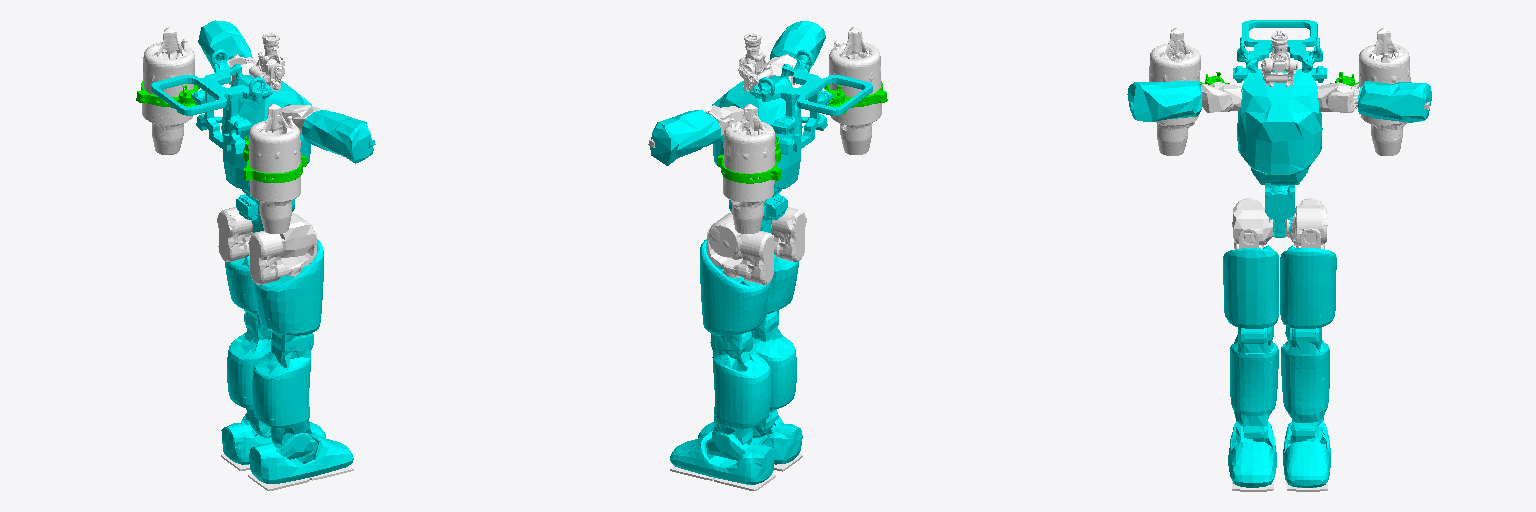
--- Render facts (derived) ---
Views: 3 orthographic renders of the robot side by side, from view 1: azimuth 30°, elevation 25°; view 2: azimuth 150°, elevation 25°; view 3: azimuth 270°, elevation 25°.
Robot: iCub — 64 links, 63 joints (26 revolute, 37 fixed); root link root_link; default pose: joints at zero except 2 at the middle of their limits (l_shoulder_roll = 1.53, r_shoulder_roll = 1.53).
Visible links, largest first — view 1: r_lower_leg, chest_r_jet_turbine, chest_jetpack, r_hip_3, chest_l_jet_turbine, r_ankle_2, l_lower_leg, r_upper_arm, chest, r_hip_2, l_hip_2, l_upper_arm (+8 smaller); view 2: l_lower_leg, chest_l_jet_turbine, chest_jetpack, l_hip_3, chest_r_jet_turbine, l_ankle_2, r_lower_leg, l_upper_arm, chest, l_hip_2, r_hip_2, r_upper_arm (+7 smaller); view 3: chest, r_lower_leg, l_lower_leg, l_hip_3, r_hip_3, chest_l_jet_turbine, chest_r_jet_turbine, chest_jetpack, r_upper_arm, l_upper_arm, l_ankle_2, r_ankle_2 (+7 smaller).
Boxes of the visible links, box(x1,y1,x2,y2) form: r_lower_leg: box(252, 331, 311, 445); chest_r_jet_turbine: box(248, 104, 300, 233); chest_jetpack: box(151, 49, 272, 154); r_hip_3: box(254, 239, 323, 335); chest_l_jet_turbine: box(142, 27, 194, 154); r_ankle_2: box(249, 431, 353, 483); l_lower_leg: box(227, 311, 270, 437); r_upper_arm: box(302, 110, 373, 163); chest: box(221, 75, 311, 188); r_hip_2: box(248, 224, 316, 284); l_hip_2: box(217, 207, 251, 261); l_upper_arm: box(198, 20, 252, 68); l_lower_leg: box(712, 331, 771, 444); chest_l_jet_turbine: box(723, 104, 775, 233); chest_jetpack: box(750, 49, 872, 154); l_hip_3: box(700, 239, 770, 335); chest_r_jet_turbine: box(829, 27, 881, 154); l_ankle_2: box(670, 431, 774, 484); r_lower_leg: box(752, 311, 796, 437); l_upper_arm: box(650, 110, 720, 165); chest: box(712, 75, 802, 188); l_hip_2: box(707, 224, 775, 284); r_hip_2: box(772, 207, 806, 262); r_upper_arm: box(770, 21, 825, 68); chest: box(1237, 69, 1322, 174); r_lower_leg: box(1230, 327, 1278, 443); l_lower_leg: box(1281, 327, 1329, 443); l_hip_3: box(1280, 245, 1336, 328); r_hip_3: box(1223, 245, 1278, 328); chest_l_jet_turbine: box(1359, 28, 1410, 155); chest_r_jet_turbine: box(1149, 28, 1200, 155); chest_jetpack: box(1233, 20, 1326, 82); r_upper_arm: box(1127, 81, 1201, 121); l_upper_arm: box(1358, 81, 1431, 122); l_ankle_2: box(1283, 422, 1330, 487); r_ankle_2: box(1228, 422, 1276, 487).
Bounding box of the posed robot: 0.4587 × 0.727 × 1.13 m (x, y, z).
Meshes: 44 distinct files referenced, 41 mesh visuals loaded (41 ASCII STL); not drawn: 3 (reference not matched to a file when rendering), 3 (reference in a form the renderer does not follow; not among the files counted above).

robot.urdf — iCub:
<robot name="iCub">
  <link name="root_link">
    <inertial>
      <origin xyz="0.0035506 -0.00014959200000000001 0.024519000000000013" rpy="0 0 -1.5707963267948966"/>
      <mass value="2.5751"/>
      <inertia ixx="0.004051489764137304" ixy="-2.0525354991945143e-06" ixz="-1.200186769383287e-05" iyy="0.004466379288694287" iyz="0.00011702292411912923" izz="0.002537512875376926"/>
    </inertial>
    <visual>
      <origin xyz="0 0 0.313858" rpy="0 0 -1.5707963267948966"/>
      <geometry>
        <mesh filename="package://iRonCub-Mk3/iRonCub/meshes/stl/sim_icub3_root_link_prt.stl" scale="0.001 0.001 0.001"/>
      </geometry>
      <material name="green">
        <color rgba="0 1 1 1"/>
      </material>
    </visual>
    <collision>
      <origin xyz="0 0 0.313858" rpy="0 0 -1.5707963267948966"/>
      <geometry>
        <mesh filename="package://iRonCub-Mk3/iRonCub/meshes/stl/sim_icub3_root_link_prt.stl" scale="0.001 0.001 0.001"/>
      </geometry>
    </collision>
  </link>
  <link name="l_hip_1">
    <inertial>
      <origin xyz="-0.004074100000000001 0.028123299999999997 -0.0007250000000000312" rpy="0 0 -1.5707963267948966"/>
      <mass value="2.1611"/>
      <inertia ixx="0.002595352643142238" ixy="-6.263538591577025e-05" ixz="2.7731363927618977e-06" iyy="0.0021193350821535318" iyz="-1.2725390435109447e-05" izz="0.0023619854835245473"/>
    </inertial>
    <visual>
      <origin xyz="-0.021600000000000064 -0.04044999999999981 0.31385800000000025" rpy="0 0 -1.5707963267948966"/>
      <geometry>
        <mesh filename="package://iRonCub-Mk3/iRonCub/meshes/stl/sim_icub3_l_hip_1_prt.stl" scale="0.001 0.001 0.001"/>
      </geometry>
      <material name="black">
        <color rgba="1 1 1 1"/>
      </material>
    </visual>
    <collision>
      <origin xyz="-0.021600000000000064 -0.04044999999999981 0.31385800000000025" rpy="0 0 -1.5707963267948966"/>
      <geometry>
        <mesh filename="package://iRonCub-Mk3/iRonCub/meshes/stl/sim_icub3_l_hip_1_prt.stl" scale="0.001 0.001 0.001"/>
      </geometry>
    </collision>
  </link>
  <joint name="l_hip_pitch" type="revolute">
    <origin xyz="0.0216 0.04045000000000001 0" rpy="0 0 0"/>
    <axis xyz="0.0 -1.0 0.0"/>
    <parent link="root_link"/>
    <child link="l_hip_1"/>
    <limit effort="50000" lower="-0.7853981633974483" upper="2.007128639793479" velocity="120.0"/>
    <dynamics damping="2.0" friction="0.0"/>
  </joint>
  <link name="l_hip_2">
    <inertial>
      <origin xyz="-0.003963800000000003 5.489999999999662e-05 -0.037538000000000016" rpy="0 0 -1.5707963267948966"/>
      <mass value="1.7731"/>
      <inertia ixx="0.005228411714595798" ixy="-4.083551966339624e-06" ixz="3.1651054869901453e-06" iyy="0.0029657585348029296" iyz="0.0009461829267401466" izz="0.0032766682222500967"/>
    </inertial>
    <visual>
      <origin xyz="0.025649999999999822 -0.07354999999999978 0.3228580000000002" rpy="0 0 -1.5707963267948966"/>
      <geometry>
        <mesh filename="package://iRonCub-Mk3/iRonCub/meshes/stl/sim_icub3_l_hip_2_prt.stl" scale="0.001 0.001 0.001"/>
      </geometry>
      <material name="red">
        <color rgba="1 1 1 1"/>
      </material>
    </visual>
    <collision>
      <origin xyz="0.025649999999999822 -0.07354999999999978 0.3228580000000002" rpy="0 0 -1.5707963267948966"/>
      <geometry>
        <mesh filename="package://iRonCub-Mk3/iRonCub/meshes/stl/sim_icub3_l_hip_2_prt.stl" scale="0.001 0.001 0.001"/>
      </geometry>
    </collision>
  </link>
  <joint name="l_hip_roll" type="revolute">
    <origin xyz="-0.04725 0.0331 -0.009000000000000008" rpy="0 0 0"/>
    <axis xyz="1.0 0.0 0.0"/>
    <parent link="l_hip_1"/>
    <child link="l_hip_2"/>
    <limit effort="50000" lower="-0.17453292519943295" upper="1.9547687622336491" velocity="120.0"/>
    <dynamics damping="2.0" friction="0.0"/>
  </joint>
  <link name="l_hip_3">
    <inertial>
      <origin xyz="0.0024416999999999998 -0.012306900000000003 -0.03819900000000004" rpy="0 0 -1.5707963267948966"/>
      <mass value="2.43975"/>
      <inertia ixx="0.0044412883972056874" ixy="3.3190647191151945e-06" ixz="-0.0001500433647365573" iyy="0.004161531735667295" iyz="1.0495343014441162e-05" izz="0.004168493190874654"/>
    </inertial>
    <visual>
      <origin xyz="-0.011050000000000178 -0.07354999999999977 0.41255800000000004" rpy="0 0 -1.5707963267948966"/>
      <geometry>
        <mesh filename="package://iRonCub-Mk3/iRonCub/meshes/stl/sim_icub3_l_hip_3_prt.stl" scale="0.001 0.001 0.001"/>
      </geometry>
      <material name="blue">
        <color rgba="0 1 1 1"/>
      </material>
    </visual>
    <collision>
      <origin xyz="-0.011050000000000178 -0.07354999999999977 0.41255800000000004" rpy="0 0 -1.5707963267948966"/>
      <geometry>
        <mesh filename="package://iRonCub-Mk3/iRonCub/meshes/stl/sim_icub3_l_hip_3_prt.stl" scale="0.001 0.001 0.001"/>
      </geometry>
    </collision>
  </link>
  <joint name="l_leg_ft_sensor" type="fixed">
    <origin xyz="0.036699999999999997 0 -0.08969999999999995" rpy="0 0 0"/>
    <parent link="l_hip_2"/>
    <child link="l_hip_3"/>
    <dynamics damping="0.1"/>
  </joint>
  <link name="l_upper_leg">
    <inertial>
      <origin xyz="0.005238099999999999 0.001499300000000009 -0.0518519999999999" rpy="0 0 -1.5707963267948966"/>
      <mass value="0.90926"/>
      <inertia ixx="0.0018580448030305287" ixy="2.4769869343548534e-05" ixz="-9.921040799831542e-05" iyy="0.0023253336863419895" iyz="0.00021961146368491691" izz="0.0010116953240355718"/>
    </inertial>
    <visual>
      <origin xyz="-0.011050000000000167 -0.05854999999999983 0.48345800000000017" rpy="0 0 -1.5707963267948966"/>
      <geometry>
        <mesh filename="package://iRonCub-Mk3/iRonCub/meshes/stl/sim_icub3_l_upper_leg_prt.stl" scale="0.001 0.001 0.001"/>
      </geometry>
      <material name="yellow">
        <color rgba="0 1 1 1"/>
      </material>
    </visual>
    <collision>
      <origin xyz="-0.011050000000000167 -0.05854999999999983 0.48345800000000017" rpy="0 0 -1.5707963267948966"/>
      <geometry>
        <mesh filename="package://iRonCub-Mk3/iRonCub/meshes/stl/sim_icub3_l_upper_leg_prt.stl" scale="0.001 0.001 0.001"/>
      </geometry>
    </collision>
  </link>
  <joint name="l_hip_yaw" type="revolute">
    <origin xyz="0 -0.015000000000000006 -0.07090000000000007" rpy="0 0 0"/>
    <axis xyz="0.0 0.0 1.0"/>
    <parent link="l_hip_3"/>
    <child link="l_upper_leg"/>
    <limit effort="50000" lower="-1.3962634015954636" upper="1.3962634015954636" velocity="120.0"/>
    <dynamics damping="2.0" friction="0.0"/>
  </joint>
  <link name="l_lower_leg">
    <inertial>
      <origin xyz="-0.0132211 -0.022063200000000005 -0.12639599999999995" rpy="0 0 -1.5707963267948966"/>
      <mass value="5.3241"/>
      <inertia ixx="0.05824701558729114" ixy="0.00010624602688798144" ixz="0.00032177799357201414" iyy="0.055706072617469723" iyz="-0.00018962183345080946" izz="0.006070627555679843"/>
    </inertial>
    <visual>
      <origin xyz="-0.026050000000000243 -0.08344999999999969 0.5896580000000001" rpy="0 0 -1.5707963267948966"/>
      <geometry>
        <mesh filename="package://iRonCub-Mk3/iRonCub/meshes/stl/sim_icub3_l_lower_leg_prt.stl" scale="0.001 0.001 0.001"/>
      </geometry>
      <material name="pink">
        <color rgba="0 1 1 1"/>
      </material>
    </visual>
    <collision>
      <origin xyz="-0.026050000000000243 -0.08344999999999969 0.5896580000000001" rpy="0 0 -1.5707963267948966"/>
      <geometry>
        <mesh filename="package://iRonCub-Mk3/iRonCub/meshes/stl/sim_icub3_l_lower_leg_prt.stl" scale="0.001 0.001 0.001"/>
      </geometry>
    </collision>
  </link>
  <joint name="l_knee" type="revolute">
    <origin xyz="0.015 0.024900000000000012 -0.10619999999999996" rpy="0 0 0"/>
    <axis xyz="0.0 -1.0 0.0"/>
    <parent link="l_upper_leg"/>
    <child link="l_lower_leg"/>
    <limit effort="50000" lower="-1.2217304763960306" upper="0.08726646259971647" velocity="120.0"/>
    <dynamics damping="2.0" friction="0.0"/>
  </joint>
  <link name="l_ankle_1">
    <inertial>
      <origin xyz="-0.0056708999999999996 -0.0004776000000000086 -0.015197000000000016" rpy="0 0 -1.5707963267948966"/>
      <mass value="0.36569"/>
      <inertia ixx="0.0006919069701304677" ixy="3.642221266176245e-05" ixz="6.0306968718434186e-05" iyy="0.00029801214087017225" iyz="-2.6804257582408287e-05" izz="0.0005496547611177806"/>
    </inertial>
    <visual>
      <origin xyz="-0.026050000000000052 -0.08295000000000005 0.8456470000000003" rpy="0 0 -1.5707963267948966"/>
      <geometry>
        <mesh filename="package://iRonCub-Mk3/iRonCub/meshes/stl/sim_icub3_l_ankle_1_prt.stl" scale="0.001 0.001 0.001"/>
      </geometry>
      <material name="cyan">
        <color rgba="0 1 1 1"/>
      </material>
    </visual>
    <collision>
      <origin xyz="-0.026050000000000052 -0.08295000000000005 0.8456470000000003" rpy="0 0 -1.5707963267948966"/>
      <geometry>
        <mesh filename="package://iRonCub-Mk3/iRonCub/meshes/stl/sim_icub3_l_ankle_1_prt.stl" scale="0.001 0.001 0.001"/>
      </geometry>
    </collision>
  </link>
  <joint name="l_ankle_pitch" type="revolute">
    <origin xyz="0 -0.0005000000000000004 -0.255989" rpy="0 0 0"/>
    <axis xyz="0.0 1.0 0.0"/>
    <parent link="l_lower_leg"/>
    <child link="l_ankle_1"/>
    <limit effort="50000" lower="-0.7853981633974483" upper="0.7853981633974483" velocity="120.0"/>
    <dynamics damping="2.0" friction="0.0"/>
  </joint>
  <link name="l_ankle_2">
    <inertial>
      <origin xyz="0.0417048 -5.500000000001337e-05 -0.02565099999999998" rpy="0 0 -1.5707963267948966"/>
      <mass value="1.53465"/>
      <inertia ixx="0.008276628548706496" ixy="5.786254688421673e-06" ixz="-4.092109028187411e-06" iyy="0.0017004608262408357" iyz="0.0012330199976826493" izz="0.008063087568467178"/>
    </inertial>
    <visual>
      <origin xyz="0.026699999999999342 -0.0647500000000001 0.8806470000000008" rpy="0 0 -1.5707963267948966"/>
      <geometry>
        <mesh filename="package://iRonCub-Mk3/iRonCub/meshes/stl/sim_icub3_l_ankle_2_prt.stl" scale="0.001 0.001 0.001"/>
      </geometry>
      <material name="green">
        <color rgba="0 1 1 1"/>
      </material>
    </visual>
    <collision>
      <origin xyz="0.026699999999999342 -0.0647500000000001 0.8806470000000008" rpy="0 0 -1.5707963267948966"/>
      <geometry>
        <mesh filename="package://iRonCub-Mk3/iRonCub/meshes/stl/sim_icub3_l_ankle_2_prt.stl" scale="0.001 0.001 0.001"/>
      </geometry>
    </collision>
  </link>
  <joint name="l_ankle_roll" type="revolute">
    <origin xyz="-0.052750000000000005 -0.018200000000000008 -0.03500000000000003" rpy="0 0 0"/>
    <axis xyz="1.0 0.0 0.0"/>
    <parent link="l_ankle_1"/>
    <child link="l_ankle_2"/>
    <limit effort="50000" lower="-0.4363323129985824" upper="0.4363323129985824" velocity="120.0"/>
    <dynamics damping="2.0" friction="0.0"/>
  </joint>
  <link name="l_foot_rear">
    <inertial>
      <origin xyz="0.0005056000000000001 3.350000000000575e-05 0.003658999999999968" rpy="0 0 -1.5707963267948966"/>
      <mass value="0.17851"/>
      <inertia ixx="0.00028386984946481193" ixy="-3.8140209422126887e-07" ixz="3.3779281136245455e-06" iyy="0.00022675202580603227" iyz="8.141588837428499e-06" izz="0.00036516477016163983"/>
    </inertial>
    <visual>
      <origin xyz="0.010699999999999342 -0.06475000000000009 0.9464470000000004" rpy="0 0 -1.5707963267948966"/>
      <geometry>
        <mesh filename="package://iRonCub-Mk3/iRonCub/meshes/stl/sim_icub3_l_foot_rear_prt.stl" scale="0.001 0.001 0.001"/>
      </geometry>
      <material name="l_foot_rear_color">
        <color rgba="1.0 1.0 1.0 1.0"/>
      </material>
    </visual>
    <collision>
      <origin xyz="0.010699999999999342 -0.06475000000000009 0.9464470000000004" rpy="0 0 -1.5707963267948966"/>
      <geometry>
        <mesh filename="package://iRonCub-Mk3/iRonCub/meshes/stl/sim_icub3_l_foot_rear_prt.stl" scale="0.001 0.001 0.001"/>
      </geometry>
    </collision>
  </link>
  <joint name="l_foot_rear_ft_sensor" type="fixed">
    <origin xyz="0.016 0 -0.06579999999999997" rpy="0 0 0"/>
    <parent link="l_ankle_2"/>
    <child link="l_foot_rear"/>
    <dynamics damping="0.1"/>
  </joint>
  <link name="l_sole"/>
  <joint name="l_sole_fixed_joint" type="fixed">
    <origin xyz="0.05963 0 0" rpy="0 0 0"/>
    <parent link="l_foot_rear"/>
    <child link="l_sole"/>
    <dynamics damping="0.1"/>
  </joint>
  <link name="l_sole_3"/>
  <joint name="l_sole_3_fixed_joint" type="fixed">
    <origin xyz="-0.035 -0.02475 0" rpy="0 0 0"/>
    <parent link="l_foot_rear"/>
    <child link="l_sole_3"/>
    <dynamics damping="0.1"/>
  </joint>
  <link name="l_sole_4"/>
  <joint name="l_sole_4_fixed_joint" type="fixed">
    <origin xyz="-0.035 0.03025 0" rpy="0 0 0"/>
    <parent link="l_foot_rear"/>
    <child link="l_sole_4"/>
    <dynamics damping="0.1"/>
  </joint>
  <link name="l_foot_front">
    <inertial>
      <origin xyz="7.700000000000762e-05 -3.990000000000937e-05 0.004256999999999955" rpy="0 0 -1.5707963267948966"/>
      <mass value="0.17896"/>
      <inertia ixx="0.00032486721722121964" ixy="3.5467003209527003e-07" ixz="2.7144049104682455e-07" iyy="0.00025600096782908466" iyz="3.4960507170104935e-05" izz="0.00037767895393194076"/>
    </inertial>
    <visual>
      <origin xyz="-0.10855000000000063 -0.06475000000000009 0.9464470000000004" rpy="0 0 -1.5707963267948966"/>
      <geometry>
        <mesh filename="package://iRonCub-Mk3/iRonCub/meshes/stl/sim_icub3_l_foot_front_prt.stl" scale="0.001 0.001 0.001"/>
      </geometry>
      <material name="l_foot_front_color">
        <color rgba="1.0 1.0 1.0 1.0"/>
      </material>
    </visual>
    <collision>
      <origin xyz="-0.10855000000000063 -0.06475000000000009 0.9464470000000004" rpy="0 0 -1.5707963267948966"/>
      <geometry>
        <mesh filename="package://iRonCub-Mk3/iRonCub/meshes/stl/sim_icub3_l_foot_front_prt.stl" scale="0.001 0.001 0.001"/>
      </geometry>
    </collision>
  </link>
  <joint name="l_foot_front_ft_sensor" type="fixed">
    <origin xyz="0.13524999999999998 0 -0.06579999999999997" rpy="0 0 0"/>
    <parent link="l_ankle_2"/>
    <child link="l_foot_front"/>
    <dynamics damping="0.1"/>
  </joint>
  <link name="l_sole_1"/>
  <joint name="l_sole_1_fixed_joint" type="fixed">
    <origin xyz="0.02500000000000001 0.025249999999999995 0" rpy="0 0 0"/>
    <parent link="l_foot_front"/>
    <child link="l_sole_1"/>
    <dynamics damping="0.1"/>
  </joint>
  <link name="l_sole_2"/>
  <joint name="l_sole_2_fixed_joint" type="fixed">
    <origin xyz="0.02500000000000001 -0.02475 0" rpy="0 0 0"/>
    <parent link="l_foot_front"/>
    <child link="l_sole_2"/>
    <dynamics damping="0.1"/>
  </joint>
  <link name="r_hip_1">
    <inertial>
      <origin xyz="-0.004106499999999999 -0.02810980000000001 -0.0008360000000000034" rpy="0 0 -1.5707963267948966"/>
      <mass value="2.1623"/>
      <inertia ixx="0.002675989970439473" ixy="6.426984653122192e-05" ixz="-6.447456052305588e-06" iyy="0.0021990073364667796" iyz="-1.5695577440979572e-05" izz="0.002366627191660443"/>
    </inertial>
    <visual>
      <origin xyz="-0.0216 0.04054999999999986 0.313858" rpy="0 0 -1.5707963267948966"/>
      <geometry>
        <mesh filename="package://iRonCub-Mk3/iRonCub/meshes/stl/sim_icub3_r_hip_1_prt.stl" scale="0.001 0.001 0.001"/>
      </geometry>
      <material name="white">
        <color rgba="1 1 1 1"/>
      </material>
    </visual>
    <collision>
      <origin xyz="-0.0216 0.04054999999999986 0.313858" rpy="0 0 -1.5707963267948966"/>
      <geometry>
        <mesh filename="package://iRonCub-Mk3/iRonCub/meshes/stl/sim_icub3_r_hip_1_prt.stl" scale="0.001 0.001 0.001"/>
      </geometry>
    </collision>
  </link>
  <joint name="r_hip_pitch" type="revolute">
    <origin xyz="0.0216 -0.040549999999999996 0" rpy="0 0 0"/>
    <axis xyz="0.0 -1.0 0.0"/>
    <parent link="root_link"/>
    <child link="r_hip_1"/>
    <limit effort="50000" lower="-0.7853981633974483" upper="2.007128639793479" velocity="120.0"/>
    <dynamics damping="2.0" friction="0.0"/>
  </joint>
  <link name="r_hip_2">
    <inertial>
      <origin xyz="-0.003963499999999998 -7.010000000000349e-05 -0.03753499999999993" rpy="0 0 -1.5707963267948966"/>
      <mass value="1.7731"/>
      <inertia ixx="0.005229204654206729" ixy="4.628243459077994e-06" ixz="-3.2636330686460046e-06" iyy="0.0029659325947175245" iyz="0.0009467254134739666" izz="0.00327641680237346"/>
    </inertial>
    <visual>
      <origin xyz="0.025699999999999973 0.07364999999999984 0.3228580000000001" rpy="0 0 -1.5707963267948966"/>
      <geometry>
        <mesh filename="package://iRonCub-Mk3/iRonCub/meshes/stl/sim_icub3_r_hip_2_prt.stl" scale="0.001 0.001 0.001"/>
      </geometry>
      <material name="dblue">
        <color rgba="1 1 1 1"/>
      </material>
    </visual>
    <collision>
      <origin xyz="0.025699999999999973 0.07364999999999984 0.3228580000000001" rpy="0 0 -1.5707963267948966"/>
      <geometry>
        <mesh filename="package://iRonCub-Mk3/iRonCub/meshes/stl/sim_icub3_r_hip_2_prt.stl" scale="0.001 0.001 0.001"/>
      </geometry>
    </collision>
  </link>
  <joint name="r_hip_roll" type="revolute">
    <origin xyz="-0.0473 -0.03310000000000001 -0.009000000000000008" rpy="0 0 0"/>
    <axis xyz="-1.0 0.0 0.0"/>
    <parent link="r_hip_1"/>
    <child link="r_hip_2"/>
    <limit effort="50000" lower="-0.17453292519943295" upper="1.9547687622336491" velocity="120.0"/>
    <dynamics damping="2.0" friction="0.0"/>
  </joint>
  <link name="r_hip_3">
    <inertial>
      <origin xyz="0.0024329000000000017 0.01233370000000001 -0.038242000000000054" rpy="0 0 -1.5707963267948966"/>
      <mass value="2.43975"/>
      <inertia ixx="0.004485784047483899" ixy="-2.3350782161357655e-06" ixz="0.0001440226606671166" iyy="0.00420681558758196" iyz="1.1762844743205253e-05" izz="0.0041711798557694454"/>
    </inertial>
    <visual>
      <origin xyz="-0.011000000000000029 0.07364999999999984 0.41255800000000004" rpy="0 0 -1.5707963267948966"/>
      <geometry>
        <mesh filename="package://iRonCub-Mk3/iRonCub/meshes/stl/sim_icub3_r_hip_3_prt.stl" scale="0.001 0.001 0.001"/>
      </geometry>
      <material name="dgreen">
        <color rgba="0 1 1 1"/>
      </material>
    </visual>
    <collision>
      <origin xyz="-0.011000000000000029 0.07364999999999984 0.41255800000000004" rpy="0 0 -1.5707963267948966"/>
      <geometry>
        <mesh filename="package://iRonCub-Mk3/iRonCub/meshes/stl/sim_icub3_r_hip_3_prt.stl" scale="0.001 0.001 0.001"/>
      </geometry>
    </collision>
  </link>
  <joint name="r_leg_ft_sensor" type="fixed">
    <origin xyz="0.036699999999999997 0 -0.08969999999999995" rpy="0 0 0"/>
    <parent link="r_hip_2"/>
    <child link="r_hip_3"/>
    <dynamics damping="0.1"/>
  </joint>
  <link name="r_upper_leg">
    <inertial>
      <origin xyz="0.005240300000000003 -0.0014998000000000025 -0.05185799999999996" rpy="0 0 -1.5707963267948966"/>
      <mass value="0.90926"/>
      <inertia ixx="0.0018609457769770859" ixy="-2.472258346821965e-05" ixz="9.915722347596187e-05" iyy="0.0023282830098543227" iyz="0.00022002726995059012" izz="0.001011608294817175"/>
    </inertial>
    <visual>
      <origin xyz="-0.011000000000000012 0.05864999999999984 0.48345800000000005" rpy="0 0 -1.5707963267948966"/>
      <geometry>
        <mesh filename="package://iRonCub-Mk3/iRonCub/meshes/stl/sim_icub3_r_upper_leg_prt.stl" scale="0.001 0.001 0.001"/>
      </geometry>
      <material name="gray">
        <color rgba="0 1 1 1"/>
      </material>
    </visual>
    <collision>
      <origin xyz="-0.011000000000000012 0.05864999999999984 0.48345800000000005" rpy="0 0 -1.5707963267948966"/>
      <geometry>
        <mesh filename="package://iRonCub-Mk3/iRonCub/meshes/stl/sim_icub3_r_upper_leg_prt.stl" scale="0.001 0.001 0.001"/>
      </geometry>
    </collision>
  </link>
  <joint name="r_hip_yaw" type="revolute">
    <origin xyz="0 0.015000000000000006 -0.07090000000000007" rpy="0 0 0"/>
    <axis xyz="0.0 0.0 -1.0"/>
    <parent link="r_hip_3"/>
    <child link="r_upper_leg"/>
    <limit effort="50000" lower="-1.3962634015954636" upper="1.3962634015954636" velocity="120.0"/>
    <dynamics damping="2.0" friction="0.0"/>
  </joint>
  <link name="r_lower_leg">
    <inertial>
      <origin xyz="-0.013102400000000002 0.021986699999999998 -0.127262" rpy="0 0 -1.5707963267948966"/>
      <mass value="5.3241"/>
      <inertia ixx="0.058569724854460666" ixy="-0.00011067195586576853" ixz="-0.0002647293063069585" iyy="0.05601996956627755" iyz="-0.00013332765738821662" izz="0.006068235025831327"/>
    </inertial>
    <visual>
      <origin xyz="-0.026000000000000037 0.0835499999999998 0.589658" rpy="0 0 -1.5707963267948966"/>
      <geometry>
        <mesh filename="package://iRonCub-Mk3/iRonCub/meshes/stl/sim_icub3_r_lower_leg_prt.stl" scale="0.001 0.001 0.001"/>
      </geometry>
      <material name="green">
        <color rgba="0 1 1 1"/>
      </material>
    </visual>
    <collision>
      <origin xyz="-0.026000000000000037 0.0835499999999998 0.589658" rpy="0 0 -1.5707963267948966"/>
      <geometry>
        <mesh filename="package://iRonCub-Mk3/iRonCub/meshes/stl/sim_icub3_r_lower_leg_prt.stl" scale="0.001 0.001 0.001"/>
      </geometry>
    </collision>
  </link>
  <joint name="r_knee" type="revolute">
    <origin xyz="0.015000000000000003 -0.0249 -0.10619999999999996" rpy="0 0 0"/>
    <axis xyz="0.0 -1.0 0.0"/>
    <parent link="r_upper_leg"/>
    <child link="r_lower_leg"/>
    <limit effort="50000" lower="-1.2217304763960306" upper="0.08726646259971647" velocity="120.0"/>
    <dynamics damping="2.0" friction="0.0"/>
  </joint>
  <link name="r_ankle_1">
    <inertial>
      <origin xyz="-0.005665800000000002 0.0004764000000000018 -0.015185999999999922" rpy="0 0 -1.5707963267948966"/>
      <mass value="0.36569"/>
      <inertia ixx="0.0007008795637504032" ixy="-3.63258049040399e-05" ixz="-6.07134864852001e-05" iyy="0.00030702728154466944" iyz="-2.6127082529919777e-05" izz="0.0005495280869326084"/>
    </inertial>
    <visual>
      <origin xyz="-0.026000000000000245 0.08304999999999924 0.8456470000000003" rpy="0 0 -1.5707963267948966"/>
      <geometry>
        <mesh filename="package://iRonCub-Mk3/iRonCub/meshes/stl/sim_icub3_r_ankle_1_prt.stl" scale="0.001 0.001 0.001"/>
      </geometry>
      <material name="black">
        <color rgba="0 1 1 1"/>
      </material>
    </visual>
    <collision>
      <origin xyz="-0.026000000000000245 0.08304999999999924 0.8456470000000003" rpy="0 0 -1.5707963267948966"/>
      <geometry>
        <mesh filename="package://iRonCub-Mk3/iRonCub/meshes/stl/sim_icub3_r_ankle_1_prt.stl" scale="0.001 0.001 0.001"/>
      </geometry>
    </collision>
  </link>
  <joint name="r_ankle_pitch" type="revolute">
    <origin xyz="0 0.0005000000000000004 -0.255989" rpy="0 0 0"/>
    <axis xyz="0.0 1.0 0.0"/>
    <parent link="r_lower_leg"/>
    <child link="r_ankle_1"/>
    <limit effort="50000" lower="-0.7853981633974483" upper="0.7853981633974483" velocity="120.0"/>
    <dynamics damping="2.0" friction="0.0"/>
  </joint>
  <link name="r_ankle_2">
    <inertial>
      <origin xyz="0.0417371 5.619999999997849e-05 -0.025592999999999977" rpy="0 0 -1.5707963267948966"/>
      <mass value="1.53465"/>
      <inertia ixx="0.008359137510182012" ixy="-6.658498141958317e-06" ixz="1.6236202151564518e-06" iyy="0.001778865481574069" iyz="0.001241649614839054" izz="0.008067236320993203"/>
    </inertial>
    <visual>
      <origin xyz="0.026749999999999875 0.0648499999999391 0.8806470000000108" rpy="0 0 -1.5707963267948966"/>
      <geometry>
        <mesh filename="package://iRonCub-Mk3/iRonCub/meshes/stl/sim_icub3_r_ankle_2_prt.stl" scale="0.001 0.001 0.001"/>
      </geometry>
      <material name="red">
        <color rgba="0 1 1 1"/>
      </material>
    </visual>
    <collision>
      <origin xyz="0.026749999999999875 0.0648499999999391 0.8806470000000108" rpy="0 0 -1.5707963267948966"/>
      <geometry>
        <mesh filename="package://iRonCub-Mk3/iRonCub/meshes/stl/sim_icub3_r_ankle_2_prt.stl" scale="0.001 0.001 0.001"/>
      </geometry>
    </collision>
  </link>
  <joint name="r_ankle_roll" type="revolute">
    <origin xyz="-0.052750000000000005 0.018200000000000008 -0.03500000000000003" rpy="0 0 0"/>
    <axis xyz="-1.0 0.0 0.0"/>
    <parent link="r_ankle_1"/>
    <child link="r_ankle_2"/>
    <limit effort="50000" lower="-0.4363323129985824" upper="0.4363323129985824" velocity="120.0"/>
    <dynamics damping="2.0" friction="0.0"/>
  </joint>
  <link name="r_foot_front">
    <inertial>
      <origin xyz="-0.0004180000000000017 0.0004849999999999993 0.005581000000000058" rpy="0 0 -1.5707963267948966"/>
      <mass value="0.17964"/>
      <inertia ixx="0.0004475629748133475" ixy="-1.1622018441861841e-05" ixz="2.9686391650024495e-05" iyy="0.0003761336092973683" iyz="7.056362242091155e-05" izz="0.00040019707061844293"/>
    </inertial>
    <visual>
      <origin xyz="-0.10850000000000012 0.0648499999999391 0.9464470000000105" rpy="0 0 -1.5707963267948966"/>
      <geometry>
        <mesh filename="package://iRonCub-Mk3/iRonCub/meshes/stl/sim_icub3_r_foot_front_prt.stl" scale="0.001 0.001 0.001"/>
      </geometry>
      <material name="r_foot_front_color">
        <color rgba="1.0 1.0 1.0 1.0"/>
      </material>
    </visual>
    <collision>
      <origin xyz="-0.10850000000000012 0.0648499999999391 0.9464470000000105" rpy="0 0 -1.5707963267948966"/>
      <geometry>
        <mesh filename="package://iRonCub-Mk3/iRonCub/meshes/stl/sim_icub3_r_foot_front_prt.stl" scale="0.001 0.001 0.001"/>
      </geometry>
    </collision>
  </link>
  <joint name="r_foot_front_ft_sensor" type="fixed">
    <origin xyz="0.13525 0 -0.06579999999999997" rpy="0 0 0"/>
    <parent link="r_ankle_2"/>
    <child link="r_foot_front"/>
    <dynamics damping="0.1"/>
  </joint>
  <link name="r_sole_1"/>
  <joint name="r_sole_1_fixed_joint" type="fixed">
    <origin xyz="0.02500000000000001 -0.025150000000000006 0" rpy="0 0 0"/>
    <parent link="r_foot_front"/>
    <child link="r_sole_1"/>
    <dynamics damping="0.1"/>
  </joint>
  <link name="r_sole_2"/>
  <joint name="r_sole_2_fixed_joint" type="fixed">
    <origin xyz="0.02500000000000001 0.02484999999999999 0" rpy="0 0 0"/>
    <parent link="r_foot_front"/>
    <child link="r_sole_2"/>
    <dynamics damping="0.1"/>
  </joint>
  <link name="r_foot_rear">
    <inertial>
      <origin xyz="0.0006180999999999999 7.079999999998199e-05 0.003514000000000017" rpy="0 0 -1.5707963267948966"/>
      <mass value="0.17874"/>
      <inertia ixx="0.00023837060598027492" ixy="1.5972601165325875e-07" ixz="2.851962872955676e-06" iyy="0.00018229756818021977" iyz="-1.2898142814635283e-06" izz="0.0003645245458529223"/>
    </inertial>
    <visual>
      <origin xyz="0.010749999999999876 0.0648499999999391 0.9464470000000105" rpy="0 0 -1.5707963267948966"/>
      <geometry>
        <mesh filename="package://iRonCub-Mk3/iRonCub/meshes/stl/sim_icub3_r_foot_rear_prt.stl" scale="0.001 0.001 0.001"/>
      </geometry>
      <material name="r_foot_rear_color">
        <color rgba="1.0 1.0 1.0 1.0"/>
      </material>
    </visual>
    <collision>
      <origin xyz="0.010749999999999876 0.0648499999999391 0.9464470000000105" rpy="0 0 -1.5707963267948966"/>
      <geometry>
        <mesh filename="package://iRonCub-Mk3/iRonCub/meshes/stl/sim_icub3_r_foot_rear_prt.stl" scale="0.001 0.001 0.001"/>
      </geometry>
    </collision>
  </link>
  <joint name="r_foot_rear_ft_sensor" type="fixed">
    <origin xyz="0.016 0 -0.06579999999999997" rpy="0 0 0"/>
    <parent link="r_ankle_2"/>
    <child link="r_foot_rear"/>
    <dynamics damping="0.1"/>
  </joint>
  <link name="r_sole"/>
  <joint name="r_sole_fixed_joint" type="fixed">
    <origin xyz="0.05963000000000001 0 0" rpy="0 0 0"/>
    <parent link="r_foot_rear"/>
    <child link="r_sole"/>
    <dynamics damping="0.1"/>
  </joint>
  <link name="r_sole_4"/>
  <joint name="r_sole_4_fixed_joint" type="fixed">
    <origin xyz="-0.034999999999999996 -0.03015000000000001 0" rpy="0 0 0"/>
    <parent link="r_foot_rear"/>
    <child link="r_sole_4"/>
    <dynamics damping="0.1"/>
  </joint>
  <link name="r_sole_3"/>
  <joint name="r_sole_3_fixed_joint" type="fixed">
    <origin xyz="-0.034999999999999996 0.02484999999999999 0" rpy="0 0 0"/>
    <parent link="r_foot_rear"/>
    <child link="r_sole_3"/>
    <dynamics damping="0.1"/>
  </joint>
  <link name="torso_1">
    <inertial>
      <origin xyz="-0.008004200000000001 0.000351303 0.051944000000000046" rpy="0 0 -1.5707963267948966"/>
      <mass value="1.8989"/>
      <inertia ixx="0.0038024477026934725" ixy="1.2239671000204914e-06" ixz="-5.050107277839758e-06" iyy="0.0029226483914300675" iyz="-0.00035973651191912757" izz="0.0023018125890803946"/>
    </inertial>
    <visual>
      <origin xyz="0 5e-05 0.2533580000000001" rpy="0 0 -1.5707963267948966"/>
      <geometry>
        <mesh filename="package://iRonCub-Mk3/iRonCub/meshes/stl/sim_icub3_torso_1_prt.stl" scale="0.001 0.001 0.001"/>
      </geometry>
      <material name="blue">
        <color rgba="0 1 1 1"/>
      </material>
    </visual>
    <collision>
      <origin xyz="0 5e-05 0.2533580000000001" rpy="0 0 -1.5707963267948966"/>
      <geometry>
        <mesh filename="package://iRonCub-Mk3/iRonCub/meshes/stl/sim_icub3_torso_1_prt.stl" scale="0.001 0.001 0.001"/>
      </geometry>
    </collision>
  </link>
  <joint name="torso_roll" type="revolute">
    <origin xyz="0 -5e-05 0.0605" rpy="0 0 0"/>
    <axis xyz="-1.0 0.0 0.0"/>
    <parent link="root_link"/>
    <child link="torso_1"/>
    <limit effort="50000" lower="-0.4014257279586958" upper="0.4014257279586958" velocity="120.0"/>
    <dynamics damping="2.0" friction="0.0"/>
  </joint>
  <link name="torso_2">
    <inertial>
      <origin xyz="0.00131935 0.00332192 0.026808" rpy="0 0 -1.5707963267948966"/>
      <mass value="0.77098"/>
      <inertia ixx="0.0008105413874308448" ixy="-3.5442504712774724e-06" ixz="-7.21480883330135e-05" iyy="0.0014602573028254073" iyz="-1.0808501368993641e-05" izz="0.0012107068713070723"/>
    </inertial>
    <visual>
      <origin xyz="0 0 0.18085800000000019" rpy="0 0 -1.5707963267948966"/>
      <geometry>
        <mesh filename="package://iRonCub-Mk3/iRonCub/meshes/stl/sim_icub3_torso_2_prt.stl" scale="0.001 0.001 0.001"/>
      </geometry>
      <material name="yellow">
        <color rgba="0 1 1 1"/>
      </material>
    </visual>
    <collision>
      <origin xyz="0 0 0.18085800000000019" rpy="0 0 -1.5707963267948966"/>
      <geometry>
        <mesh filename="package://iRonCub-Mk3/iRonCub/meshes/stl/sim_icub3_torso_2_prt.stl" scale="0.001 0.001 0.001"/>
      </geometry>
    </collision>
  </link>
  <joint name="torso_pitch" type="revolute">
    <origin xyz="0 5e-05 0.07250000000000001" rpy="0 0 0"/>
    <axis xyz="0.0 1.0 0.0"/>
    <parent link="torso_1"/>
    <child link="torso_2"/>
    <limit effort="50000" lower="-0.3141592653589793" upper="0.7853981633974483" velocity="120.0"/>
    <dynamics damping="2.0" friction="0.0"/>
  </joint>
  <link name="chest">
    <inertial>
      <origin xyz="-0.00597433 -7.26041e-05 0.06416630000000001" rpy="0 0 -1.5707963267948966"/>
      <mass value="8.8237"/>
      <inertia ixx="0.039708617760736864" ixy="6.204355274120594e-05" ixz="0.00016506620484397756" iyy="0.03867392720151877" iyz="-0.002048920943396954" izz="0.03467001611831408"/>
    </inertial>
    <visual>
      <origin xyz="0 0 0.11638800000000014" rpy="0 0 -1.5707963267948966"/>
      <geometry>
        <mesh filename="package://iRonCub-Mk3/iRonCub/meshes/stl/sim_icub3_chest_prt.stl" scale="0.001 0.001 0.001"/>
      </geometry>
      <material name="chest_color">
        <color rgba="0 1 1 1"/>
      </material>
    </visual>
    <collision>
      <origin xyz="0 0 0.11638800000000014" rpy="0 0 -1.5707963267948966"/>
      <geometry>
        <mesh filename="package://iRonCub-Mk3/iRonCub/meshes/stl/sim_icub3_chest_prt.stl" scale="0.001 0.001 0.001"/>
      </geometry>
    </collision>
  </link>
  <joint name="torso_yaw" type="revolute">
    <origin xyz="0 0 0.06447000000000001" rpy="0 0 0"/>
    <axis xyz="0.0 0.0 -1.0"/>
    <parent link="torso_2"/>
    <child link="chest"/>
    <limit effort="50000" lower="-0.7504915783575618" upper="0.7504915783575618" velocity="120.0"/>
    <dynamics damping="2.0" friction="0.0"/>
  </joint>
  <link name="chest_depth_frame"/>
  <joint name="chest_depth_frame_fixed_joint" type="fixed">
    <origin xyz="0.0894115 0.0175 0.09929950000000001" rpy="-1.5707963267948968 0 -1.5707963267948968"/>
    <parent link="chest"/>
    <child link="chest_depth_frame"/>
    <dynamics damping="0.1"/>
  </joint>
  <link name="chest_rgb_frame"/>
  <joint name="chest_rgb_frame_fixed_joint" type="fixed">
    <origin xyz="0.0894115 -0.0115 0.09929950000000001" rpy="-1.5707963267948968 0 -1.5707963267948968"/>
    <parent link="chest"/>
    <child link="chest_rgb_frame"/>
    <dynamics damping="0.1"/>
  </joint>
  <link name="chest_jetpack">
    <inertial>
      <origin xyz="-0.08999715696999999 -0.0664036 -0.04002099999999999" rpy="1.5707963267948966 0 3.141592653589793"/>
      <mass value="1.80559"/>
      <inertia ixx="0.0108291" ixy="0.0" ixz="0.0" iyy="0.0139177" iyz="0.000593622" izz="0.0136849"/>
    </inertial>
    <visual>
      <origin xyz="-0.09000000000000005 -0.10369599999999986 0.08499999999999977" rpy="1.5707963267948966 0 3.141592653589793"/>
      <geometry>
        <mesh filename="package://iRonCub-Mk3/iRonCub/meshes/stl/sim_sea_3_jetpack_prt.stl" scale="0.001 0.001 0.001"/>
      </geometry>
      <material name="pink">
        <color rgba="0 1 1 1"/>
      </material>
    </visual>
    <collision>
      <origin xyz="-0.09000000000000005 -0.10369599999999986 0.08499999999999977" rpy="1.5707963267948966 0 3.141592653589793"/>
      <geometry>
        <mesh filename="package://iRonCub-Mk3/iRonCub/meshes/stl/sim_sea_3_jetpack_prt.stl" scale="0.001 0.001 0.001"/>
      </geometry>
    </collision>
  </link>
  <joint name="jetpack" type="fixed">
    <origin xyz="-0.085 0.09 0.220084" rpy="1.5707963267948968 0 1.5707963267948968"/>
    <parent link="chest"/>
    <child link="chest_jetpack"/>
    <dynamics damping="0.1"/>
  </joint>
  <link name="L_BRACKET"/>
  <joint name="L_BRACKET_fixed_joint" type="fixed">
    <origin xyz="0.0025000000000000022 -0.108446 -0.045" rpy="1.5707963267948966 0 0"/>
    <parent link="chest_jetpack"/>
    <child link="L_BRACKET"/>
    <dynamics damping="0.1"/>
  </joint>
  <link name="R_BRACKET"/>
  <joint name="R_BRACKET_fixed_joint" type="fixed">
    <origin xyz="-0.1825 -0.108446 -0.045" rpy="-1.570796326794897 0 3.141592653589793"/>
    <parent link="chest_jetpack"/>
    <child link="R_BRACKET"/>
    <dynamics damping="0.1"/>
  </joint>
  <link name="chest_r_bracket">
    <inertial>
      <origin xyz="0.040186 0 -0.013638599999999994" rpy="3.141592653589793 0 3.141592653589793"/>
      <mass value="0.22262"/>
      <inertia ixx="5.8247e-05" ixy="0.0" ixz="3.71713e-05" iyy="0.00020902" iyz="0.0" izz="0.00025917"/>
    </inertial>
    <visual>
     <origin xyz="0 0 0" rpy="3.141592653589793 0 0"/>
      <geometry>
        <mesh filename="[local-path]\Documents\GitHub\element_co-generative-cad\Mode_frontierAnalayses\jetpack_forearm_simulink_controller\jetpack_forearm_control_simulink_controller_00066\proc\00000-00999\00445\Matlab25_00000\cogen_001_p_001.prt_ascii.stl" scale="0.001 0.001 0.001"/>
      </geometry>
      <material name="cyan">
        <color rgba="0 1 1 1"/>
      </material>
    </visual>
    <collision>
      <origin xyz="-0.0925 0.12999999999999995 -0.004749999999999998" rpy="3.141592653589793 0 3.141592653589793"/>
      <geometry>
        <mesh filename="package://iRonCub-Mk3/iRonCub/meshes/stl/sim_sea_3_r_bracket_prt.stl" scale="0.001 0.001 0.001"/>
      </geometry>
    </collision>
  </link>
  <joint name="r_bracket" type="fixed">
    <origin xyz="-0.1825 -0.108446 -0.045" rpy="-1.570796326794897 0 3.141592653589793"/>
    <parent link="chest_jetpack"/>
    <child link="chest_r_bracket"/>
    <dynamics damping="0.1"/>
  </joint>
  <link name="chest_r_turbine_support">
    <inertial>
      <origin xyz="0.033974948560747814 1.000000000001e-06 0.025325496432461944" rpy="3.141592653589793 -0.26179931982715643 0"/>
      <mass value="0.513465"/>
      <inertia ixx="0.000737005" ixy="-1.84704e-08" ixz="-0.000203475" iyy="0.00132011" iyz="0.0" izz="0.00185737"/>
    </inertial>
    <visual>
      <origin xyz="-0.15624417980240066 -0.12999999999999978 -0.033999472494660433" rpy="3.141592653589793 -0.26179931982715643 0"/>
      <geometry>
        <mesh filename="package://iRonCub-Mk3/iRonCub/meshes/stl/sim_sea_3_r_turbine_support_prt.stl" scale="0.001 0.001 0.001"/>
      </geometry>
      <material name="green">
        <color rgba="0 1 0 1"/>
      </material>
    </visual>
    <collision>
      <origin xyz="-0.15624417980240066 -0.12999999999999978 -0.033999472494660433" rpy="3.141592653589793 -0.26179931982715643 0"/>
      <geometry>
        <mesh filename="package://iRonCub-Mk3/iRonCub/meshes/stl/sim_sea_3_r_turbine_support_prt.stl" scale="0.001 0.001 0.001"/>
      </geometry>
    </collision>
  </link>
  <joint name="r_turbine_support" type="fixed">
    <origin xyz="0.063427           0  -0.0014016" rpy="0    0.034907           0"/>
    <parent link="chest_r_bracket"/>
    <child link="chest_r_turbine_support"/>
    <dynamics damping="0.1"/>
  </joint>
  <link name="chest_r_jet_turbine">
    <inertial>
      <origin xyz="5.000000000002197e-05 -6.602469999855698e-05 -0.15870252299023924" rpy="3.141592653589793 -0.26179931982715643 1.5707963267948968"/>
      <mass value="2.115"/>
      <inertia ixx="0.00787141" ixy="7.21352e-06" ixz="0.00136635" iyy="0.0082371" iyz="-1.12055e-05" izz="0.0031427"/>
    </inertial>
    <visual>
      <origin xyz="0.12971099999999988 -0.25124341315963833 -0.22335106276867228" rpy="3.141592653589793 -0.26179931982715643 1.5707963267948968"/>
      <geometry>
        <mesh filename="package://iRonCub-Mk3/iRonCub/meshes/stl/sim_sea_3_r_jet_turbine_prt.stl" scale="0.001 0.001 0.001"/>
      </geometry>
      <material name="white">
        <color rgba="1 1 1 1"/>
      </material>
    </visual>
    <collision>
      <origin xyz="0.12971099999999988 -0.25124341315963833 -0.22335106276867228" rpy="3.141592653589793 -0.26179931982715643 1.5707963267948968"/>
      <geometry>
        <mesh filename="package://iRonCub-Mk3/iRonCub/meshes/stl/sim_sea_3_r_jet_turbine_prt.stl" scale="0.001 0.001 0.001"/>
      </geometry>
    </collision>
  </link>
  <joint name="r_jet_turbine" type="fixed">
    <origin xyz="0.09499923335723759 -0.0002889999999999837 0.1893515902740118" rpy="0 0 -1.5707963267948966"/>
    <parent link="chest_r_turbine_support"/>
    <child link="chest_r_jet_turbine"/>
    <dynamics damping="0.1"/>
  </joint>
  <link name="chest_l_bracket">
    <inertial>
      <origin xyz="0.040185999999999986 0 -0.013638599999999994" rpy="3.141592653589793 0 3.141592653589793"/>
      <mass value="0.22262"/>
      <inertia ixx="5.8247e-05" ixy="0.0" ixz="3.71713e-05" iyy="0.00020902" iyz="0.0" izz="0.00025917"/>
    </inertial>
    <visual>
      <origin xyz="0 0 0" rpy="3.141592653589793 0 0"/>
      <geometry>
        <mesh filename="package://iRonCub-Mk3/iRonCub/meshes/stl/sim_sea_3_l_bracket_prt.stl" scale="0.001 0.001 0.001"/>
      </geometry>
      <material name="dblue">
        <color rgba="0 1 1 1"/>
      </material>
    </visual>
    <collision>
      <origin xyz="-0.09250000000000001 0.12999999999999978 -0.00475000000000014" rpy="3.141592653589793 0 3.141592653589793"/>
      <geometry>
        <mesh filename="[local-path]\Documents\GitHub\element_co-generative-cad\Mode_frontierAnalayses\jetpack_forearm_simulink_controller\jetpack_forearm_control_simulink_controller_00066\proc\00000-00999\00445\Matlab25_00000\cogen_001_p_001.prt_ascii.stl" scale="0.001 0.001 0.001"/>
      </geometry>
    </collision>
  </link>
  <joint name="l_bracket" type="fixed">
    <origin xyz="0.0025000000000000022 -0.108446 -0.045" rpy="1.5707963267948966 0 0"/>
    <parent link="chest_jetpack"/>
    <child link="chest_l_bracket"/>
    <dynamics damping="0.1"/>
  </joint>
  <link name="chest_l_turbine_support">
    <inertial>
      <origin xyz="0.03397903484844561 1.000000000001e-06 0.025325701012153992" rpy="3.141592653589793 0.26179931982715643 3.141592653589793"/>
      <mass value="0.513465"/>
      <inertia ixx="0.000736992" ixy="-1.84723e-08" ixz="0.000203433" iyy="0.00131997" iyz="0.0" izz="0.00185725"/>
    </inertial>
    <visual>
      <origin xyz="-0.15624417980240077 0.12999999999999978 -0.03399947249466047" rpy="3.141592653589793 0.26179931982715643 3.141592653589793"/>
      <geometry>
        <mesh filename="package://iRonCub-Mk3/iRonCub/meshes/stl/sim_sea_3_l_turbine_support_prt.stl" scale="0.001 0.001 0.001"/>
      </geometry>
      <material name="dgreen">
        <color rgba="0 1 0 1"/>
      </material>
    </visual>
    <collision>
      <origin xyz="-0.15624417980240077 0.12999999999999978 -0.03399947249466047" rpy="3.141592653589793 0.26179931982715643 3.141592653589793"/>
      <geometry>
        <mesh filename="package://iRonCub-Mk3/iRonCub/meshes/stl/sim_sea_3_l_turbine_support_prt.stl" scale="0.001 0.001 0.001"/>
      </geometry>
    </collision>
  </link>
  <joint name="l_turbine_support" type="fixed">
    <origin xyz="0.063427           0  -0.0014016" rpy="0    0.034907           0"/>
    <parent link="chest_l_bracket"/>
    <child link="chest_l_turbine_support"/>
    <dynamics damping="0.1"/>
  </joint>
  <link name="chest_l_jet_turbine">
    <inertial>
      <origin xyz="4.9000000000021445e-05 -5.932499839716998e-05 -0.1587105537506091" rpy="3.141592653589793 0.26179931982715643 1.5707963267948968"/>
      <mass value="2.11661"/>
      <inertia ixx="0.00787268" ixy="6.50611e-07" ixz="-0.00136457" iyy="0.00823746" iyz="-1.33065e-05" izz="0.0031418"/>
    </inertial>
    <visual>
      <origin xyz="0.12971099999999977 0.2507434833286949 -0.2233506576354603" rpy="3.141592653589793 0.26179931982715643 1.5707963267948968"/>
      <geometry>
        <mesh filename="package://iRonCub-Mk3/iRonCub/meshes/stl/sim_sea_3_l_jet_turbine_prt.stl" scale="0.001 0.001 0.001"/>
      </geometry>
      <material name="gray">
        <color rgba="1 1 1 1"/>
      </material>
    </visual>
    <collision>
      <origin xyz="0.12971099999999977 0.2507434833286949 -0.2233506576354603" rpy="3.141592653589793 0.26179931982715643 1.5707963267948968"/>
      <geometry>
        <mesh filename="package://iRonCub-Mk3/iRonCub/meshes/stl/sim_sea_3_l_jet_turbine_prt.stl" scale="0.001 0.001 0.001"/>
      </geometry>
    </collision>
  </link>
  <joint name="l_jet_turbine" type="fixed">
    <origin xyz="0.09449930352629421 0.0002889999999999837 0.1893511851407998" rpy="0 0 1.5707963267948966"/>
    <parent link="chest_l_turbine_support"/>
    <child link="chest_l_jet_turbine"/>
    <dynamics damping="0.1"/>
  </joint>
  <link name="neck_1">
    <inertial>
      <origin xyz="-0.0021259300000000003 0.00033753499999999997 0.031454700000000016" rpy="-1.5707963267948968 0 -1.5707963267948968"/>
      <mass value="0.36804"/>
      <inertia ixx="0.000179701897883096" ixy="-8.833876708276077e-06" ixz="-1.4878426738622656e-05" iyy="0.0002675144279997793" iyz="5.57627455590208e-06" izz="0.00028375118819347193"/>
    </inertial>
    <visual>
      <origin xyz="0.00865 0 0.049000000000000016" rpy="-1.5707963267948968 0 -1.5707963267948968"/>
      <geometry>
        <mesh filename="package://iRonCub-Mk3/iRonCub/meshes/stl/sim_head_neck_1_prt.stl" scale="0.001 0.001 0.001"/>
      </geometry>
      <material name="green">
        <color rgba="1 1 1 1"/>
      </material>
    </visual>
    <collision>
      <origin xyz="0.00865 0 0.049000000000000016" rpy="-1.5707963267948968 0 -1.5707963267948968"/>
      <geometry>
        <mesh filename="package://iRonCub-Mk3/iRonCub/meshes/stl/sim_head_neck_1_prt.stl" scale="0.001 0.001 0.001"/>
      </geometry>
    </collision>
  </link>
  <joint name="neck_fixed_joint" type="fixed">
    <origin xyz="-0.00378849 0 0.1652995" rpy="0 0 0"/>
    <parent link="chest"/>
    <child link="neck_1"/>
    <dynamics damping="0.1"/>
  </joint>
  <link name="neck_2">
    <inertial>
      <origin xyz="-0.0063756 3.63093e-05 0.006597499999999992" rpy="-1.5707963267948968 0 -1.5707963267948968"/>
      <mass value="0.1214"/>
      <inertia ixx="3.922803192379071e-05" ixy="5.7011653935913464e-08" ixz="9.665431536690854e-08" iyy="3.7385115930831784e-05" iyz="-9.08258119140734e-06" izz="4.585137085918645e-05"/>
    </inertial>
    <visual>
      <origin xyz="0 0 0" rpy="-1.5707963267948968 0 -1.5707963267948968"/>
      <geometry>
        <mesh filename="package://iRonCub-Mk3/iRonCub/meshes/stl/sim_head_neck_2_prt.stl" scale="0.001 0.001 0.001"/>
      </geometry>
      <material name="black">
        <color rgba="1 1 1 1"/>
      </material>
    </visual>
    <collision>
      <origin xyz="0 0 0" rpy="-1.5707963267948968 0 -1.5707963267948968"/>
      <geometry>
        <mesh filename="package://iRonCub-Mk3/iRonCub/meshes/stl/sim_head_neck_2_prt.stl" scale="0.001 0.001 0.001"/>
      </geometry>
    </collision>
  </link>
  <joint name="neck_pitch" type="revolute">
    <origin xyz="0.00865 0 0.049000000000000016" rpy="0 0 0"/>
    <axis xyz="0.0 -1.0 0.0"/>
    <parent link="neck_1"/>
    <child link="neck_2"/>
    <limit effort="50000" lower="-0.5235987755982988" upper="0.3839724354387525" velocity="120.0"/>
    <dynamics damping="2.0" friction="0.0"/>
  </joint>
  <link name="neck_3">
    <inertial>
      <origin xyz="0.0012653999999999999 -8.218820000000001e-05 0.036108999999999974" rpy="-1.5707963267948968 0 -1.5707963267948968"/>
      <mass value="0.18386"/>
      <inertia ixx="0.00011968746119821388" ixy="-5.240077207007726e-07" ixz="-3.6002165484161086e-07" iyy="3.99187384725429e-05" iyz="-9.97584076409671e-06" izz="0.00010705060973108298"/>
    </inertial>
    <visual>
      <origin xyz="0 0 -0.009500499999999995" rpy="-1.5707963267948968 0 -1.5707963267948968"/>
      <geometry>
        <mesh filename="package://iRonCub-Mk3/iRonCub/meshes/stl/sim_head_neck_3_prt.stl" scale="0.001 0.001 0.001"/>
      </geometry>
      <material name="red">
        <color rgba="1 1 1 1"/>
      </material>
    </visual>
    <collision>
      <origin xyz="0 0 -0.009500499999999995" rpy="-1.5707963267948968 0 -1.5707963267948968"/>
      <geometry>
        <mesh filename="package://iRonCub-Mk3/iRonCub/meshes/stl/sim_head_neck_3_prt.stl" scale="0.001 0.001 0.001"/>
      </geometry>
    </collision>
  </link>
  <joint name="neck_roll" type="revolute">
    <origin xyz="0 0 0.009500499999999995" rpy="0 0 0"/>
    <axis xyz="1.0 0.0 0.0"/>
    <parent link="neck_2"/>
    <child link="neck_3"/>
    <limit effort="50000" lower="-0.3490658503988659" upper="0.3490658503988659" velocity="120.0"/>
    <dynamics damping="2.0" friction="0.0"/>
  </joint>
  <link name="head">
    <inertial>
      <origin xyz="-0.02065171 0.000526031 0.027896999999999977" rpy="-1.5707963267948968 0 -1.5707963267948968"/>
      <mass value="1.8728"/>
      <inertia ixx="0.007642647745719656" ixy="4.8998499721183834e-05" ixz="4.926393457113943e-05" iyy="0.007404636328713935" iyz="-0.00019328685350792046" izz="0.005594148247588756"/>
    </inertial>
    <visual>
      <origin xyz="0 0 -0.07865050000000001" rpy="-1.5707963267948968 0 -1.5707963267948968"/>
      <geometry>
        <mesh filename="package://iRonCub-Mk3/iRonCub/meshes/stl/sim_head_head_prt.stl" scale="0.001 0.001 0.001"/>
      </geometry>
      <material name="blue">
        <color rgba="1 1 1 1"/>
      </material>
    </visual>
    <collision>
      <origin xyz="0 0 -0.07865050000000001" rpy="-1.5707963267948968 0 -1.5707963267948968"/>
      <geometry>
        <mesh filename="package://iRonCub-Mk3/iRonCub/meshes/stl/sim_head_head_prt.stl" scale="0.001 0.001 0.001"/>
      </geometry>
    </collision>
  </link>
  <joint name="neck_yaw" type="revolute">
    <origin xyz="0 0 0.06915000000000002" rpy="0 0 0"/>
    <axis xyz="0.0 0.0 1.0"/>
    <parent link="neck_3"/>
    <child link="head"/>
    <limit effort="50000" lower="-0.7853981633974483" upper="0.7853981633974483" velocity="120.0"/>
    <dynamics damping="2.0" friction="0.0"/>
  </joint>
  <link name="l_shoulder_1">
    <inertial>
      <origin xyz="0.00016753510172435454 0.08722598325113093 0.0004507876462612366" rpy="-0.06688748006582523 -0.2444524795872544 -1.3007776603865422"/>
      <mass value="0.78644"/>
      <inertia ixx="0.00039843690200765293" ixy="0.00017359471090191915" ixz="0.00016289691907417792" iyy="0.0010102030321362176" iyz="-4.081880122662575e-05" izz="0.000992284738493621"/>
    </inertial>
    <visual>
      <origin xyz="0.030411223823216114 -0.029140477503746667 0.01909576653967796" rpy="-0.06688748006582523 -0.2444524795872544 -1.3007776603865422"/>
      <geometry>
        <mesh filename="package://iRonCub-Mk3/iRonCub/meshes/stl/sim_icub3_l_shoulder_1_prt.stl" scale="0.001 0.001 0.001"/>
      </geometry>
      <material name="yellow">
        <color rgba="1 1 1 1"/>
      </material>
    </visual>
    <collision>
      <origin xyz="0.030411223823216114 -0.029140477503746667 0.01909576653967796" rpy="-0.06688748006582523 -0.2444524795872544 -1.3007776603865422"/>
      <geometry>
        <mesh filename="package://iRonCub-Mk3/iRonCub/meshes/stl/sim_icub3_l_shoulder_1_prt.stl" scale="0.001 0.001 0.001"/>
      </geometry>
    </collision>
  </link>
  <joint name="l_shoulder_pitch" type="revolute">
    <origin xyz="-0.020835100000000002 0.0397423 0.1052029" rpy="0.25326162380993705 -1.1977334179319483e-07 -0.26179930184968747"/>
    <axis xyz="3.323079797673039e-07 0.9999999783534342 1.4452224303407313e-07"/>
    <parent link="chest"/>
    <child link="l_shoulder_1"/>
    <limit effort="50000" lower="-3.0543261909900767" upper="0.3490658503988659" velocity="120.0"/>
    <dynamics damping="2.0" friction="0.0"/>
  </joint>
  <link name="l_shoulder_2">
    <inertial>
      <origin xyz="0.0076686687055762676 0.00018849980855933923 -0.020403454228093053" rpy="-0.12008543635729367 -0.2297887323171894 -1.2882780461440753"/>
      <mass value="0.42492"/>
      <inertia ixx="0.00038388233784675605" ixy="-4.916851307375464e-05" ixz="-6.324300296292925e-05" iyy="0.00031068388949320714" iyz="-7.587195452290467e-05" izz="0.00026013597951892223"/>
    </inertial>
    <visual>
      <origin xyz="0.026393096265395596 -0.14064030580326706 0.017434480978924874" rpy="-0.12008543635729367 -0.2297887323171894 -1.2882780461440753"/>
      <geometry>
        <mesh filename="package://iRonCub-Mk3/iRonCub/meshes/stl/sim_icub3_l_shoulder_2_prt.stl" scale="0.001 0.001 0.001"/>
      </geometry>
      <material name="pink">
        <color rgba="1 1 1 1"/>
      </material>
    </visual>
    <collision>
      <origin xyz="0.026393096265395596 -0.14064030580326706 0.017434480978924874" rpy="-0.12008543635729367 -0.2297887323171894 -1.2882780461440753"/>
      <geometry>
        <mesh filename="package://iRonCub-Mk3/iRonCub/meshes/stl/sim_icub3_l_shoulder_2_prt.stl" scale="0.001 0.001 0.001"/>
      </geometry>
    </collision>
  </link>
  <joint name="l_shoulder_roll" type="revolute">
    <origin xyz="0.004992849331690821 0.11149983845609901 0.00026865022773668937" rpy="-0.17453296140985003 -0.05374759931933849 0"/>
    <axis xyz="0.9999998262417685 2.034825262722459e-07 -4.0230228454118944e-08"/>
    <parent link="l_shoulder_1"/>
    <child link="l_shoulder_2"/>
    <limit effort="50000" lower="0.20943951023931956" upper="2.8448866807507573" velocity="120.0"/>
    <dynamics damping="2.0" friction="0.0"/>
  </joint>
  <link name="l_shoulder_3">
    <inertial>
      <origin xyz="-9.561931744894031e-05 3.089115052354319e-05 -0.007966608685190314" rpy="-0.12008543635729367 -0.2297887323171894 -1.2882780461440753"/>
      <mass value="0.2625"/>
      <inertia ixx="7.626797646850803e-05" ixy="-1.6986505676585652e-06" ixz="1.0777869051741286e-05" iyy="7.457103744115285e-05" iyz="-5.511652932595611e-06" izz="0.00012000121562184585"/>
    </inertial>
    <visual>
      <origin xyz="0.030743229422373917 -0.14064066906059042 0.0717345197029866" rpy="-0.12008543635729367 -0.2297887323171894 -1.2882780461440753"/>
      <geometry>
        <mesh filename="package://iRonCub-Mk3/iRonCub/meshes/stl/sim_icub3_l_shoulder_3_prt.stl" scale="0.001 0.001 0.001"/>
      </geometry>
      <material name="cyan">
        <color rgba="0 1 1 1"/>
      </material>
    </visual>
    <collision>
      <origin xyz="0.030743229422373917 -0.14064066906059042 0.0717345197029866" rpy="-0.12008543635729367 -0.2297887323171894 -1.2882780461440753"/>
      <geometry>
        <mesh filename="package://iRonCub-Mk3/iRonCub/meshes/stl/sim_icub3_l_shoulder_3_prt.stl" scale="0.001 0.001 0.001"/>
      </geometry>
    </collision>
  </link>
  <joint name="l_arm_ft_sensor" type="fixed">
    <origin xyz="-0.004350133156978318 3.632573233602887e-07 -0.05430003872406172" rpy="0 0 0"/>
    <parent link="l_shoulder_2"/>
    <child link="l_shoulder_3"/>
    <dynamics damping="0.1"/>
  </joint>
  <link name="l_upper_arm">
    <inertial>
      <origin xyz="0.0010476375729993916 0.002559622582259863 -0.05065314985074498" rpy="-0.06212860830092193 0.0714268908124578 0.27099931149673545"/>
      <mass value="1.67729"/>
      <inertia ixx="0.002960829234557446" ixy="-1.0441222117313817e-05" ixz="0.00022298859388284023" iyy="0.0030756376591531418" iyz="0.00020156448677983343" izz="0.001327263106289413"/>
    </inertial>
    <visual>
      <origin xyz="0.030743147864881363 -0.14064024560810592 0.09423446107611103" rpy="-0.12008543635729367 -0.2297887323171894 -1.2882780461440753"/>
      <geometry>
        <mesh filename="package://iRonCub-Mk3/iRonCub/meshes/stl/sim_icub3_l_upperarm_prt.stl" scale="0.001 0.001 0.001"/>
      </geometry>
      <material name="green">
        <color rgba="0 1 1 1"/>
      </material>
    </visual>
    <collision>
      <origin xyz="0.030743147864881363 -0.14064024560810592 0.09423446107611103" rpy="-0.12008543635729367 -0.2297887323171894 -1.2882780461440753"/>
      <geometry>
        <mesh filename="package://iRonCub-Mk3/iRonCub/meshes/stl/sim_icub3_l_upperarm_prt.stl" scale="0.001 0.001 0.001"/>
      </geometry>
    </collision>
  </link>
  <joint name="l_shoulder_yaw" type="revolute">
    <origin xyz="0 -4.2345248449371375e-07 -0.02249994137312443" rpy="0 0 0"/>
    <axis xyz="2.2276474047344674e-08 -4.39378624733644e-08 -1.0000002566182309"/>
    <parent link="l_shoulder_3"/>
    <child link="l_upper_arm"/>
    <limit effort="50000" lower="-0.8726646259971648" upper="1.3962634015954636" velocity="120.0"/>
    <dynamics damping="2.0" friction="0.0"/>
  </joint>
  <link name="l_elbow_1">
    <inertial>
      <origin xyz="-0.00423027106126244 0.0004313452938078943 -0.0009432406828351891" rpy="-0.12008543635729367 -0.2297887323171894 -1.2882780461440753"/>
      <mass value="0.107667"/>
      <inertia ixx="1.39504e-05" ixy="1.76574e-06" ixz="3.57718e-06" iyy="2.16784e-05" iyz="-8.71415e-07" izz="2.71069e-05"/>
    </inertial>
    <visual>
      <origin xyz="0.02074321762996196 -0.13914059818467703 0.21793479861369477" rpy="-0.12008543635729367 -0.2297887323171894 -1.2882780461440753"/>
      <geometry>
        <mesh filename="package://iRonCub-Mk3/iRonCub/meshes/stl/sim_icub3_l_elbow_prt.stl" scale="0.001 0.001 0.001"/>
      </geometry>
      <material name="white">
        <color rgba="1 1 1 1"/>
      </material>
    </visual>
    <collision>
      <origin xyz="0.02074321762996196 -0.13914059818467703 0.21793479861369477" rpy="-0.12008543635729367 -0.2297887323171894 -1.2882780461440753"/>
      <geometry>
        <mesh filename="package://iRonCub-Mk3/iRonCub/meshes/stl/sim_icub3_l_elbow_prt.stl" scale="0.001 0.001 0.001"/>
      </geometry>
    </collision>
  </link>
  <joint name="l_elbow" type="revolute">
    <origin xyz="0.0099999302349194 -0.001499647423428896 -0.12370033753758373" rpy="0 0 0"/>
    <axis xyz="-8.81182417675902e-08 -1.0000002733514628 4.404736120289243e-08"/>
    <parent link="l_upper_arm"/>
    <child link="l_elbow_1"/>
    <limit effort="50000" lower="-0.05235987755982989" upper="1.3089969389957472" velocity="120.0"/>
    <dynamics damping="2.0" friction="0.0"/>
  </joint>
  <link name="L_FOREARM"/>
  <joint name="L_FOREARM_fixed_joint" type="fixed">
    <origin xyz="-0.014999997481142335 0.001999966984672058 0.006000190633300373" rpy="1.5707963634150914 -1.5707959411047887 0"/>
    <parent link="l_elbow_1"/>
    <child link="L_FOREARM"/>
    <dynamics damping="0.1"/>
  </joint>
  <link name="l_forearm">
    <inertial>
      <origin xyz="-0.13144957359056722 6.579725385970348e-05 -0.023664172318918125" rpy="-2.3561949108383837 -1.2085781829840494 -0.872663970096126"/>
      <mass value="0.71606"/>
      <inertia ixx="0.00091547" ixy="0.000250775" ixz="-0.000415171" iyy="0.0022271" iyz="0.000153302" izz="0.002323"/>
    </inertial>
    <visual>
      <origin xyz="0 0 0" rpy="-0.1745 0 0 "/>
      <geometry>
        <mesh filename="[local-path]\Documents\GitHub\element_co-generative-cad\Mode_frontierAnalayses\jetpack_forearm_simulink_controller\jetpack_forearm_control_simulink_controller_00066\proc\00000-00999\00445\Matlab26_00000\cogen_001_p_002.prt_ascii.stl" scale="0.001 0.001 0.001"/>
      </geometry>
      <material name="dblue">
        <color rgba="0 1 1 1"/>
      </material>
    </visual>
    <collision>
      <origin xyz="0.21193456418652468 -0.0357431759934032 0.14114064083593308" rpy="-2.3561949108383837 -1.2085781829840494 -0.872663970096126"/>
      <geometry>
        <mesh filename="package://iRonCub-Mk3/iRonCub/meshes/stl/sim_icub3_l_elbow_prosup_prt.stl" scale="0.001 0.001 0.001"/>
      </geometry>
    </collision>
  </link>
  <joint name="l_prosup_joint" type="fixed">
    <origin xyz="-0.014999997481142335 0.001999966984672058 0.006000190633300373" rpy="1.5707963634150914 -1.5707959411047887 0"/>
    <parent link="l_elbow_1"/>
    <child link="l_forearm"/>
    <dynamics damping="0.1"/>
  </joint>
  <link name="l_arm_jet_turbine">
    <inertial>
      <origin xyz="2.4681861376940617e-07 0 -0.15814158399339034" rpy="3.0215072327565813 0.22978870437666338 -0.2825182075180713"/>
      <mass value="2.155"/>
      <inertia ixx="-0.00934762" ixy="-0.000261966" ixz="0.00217093" iyy="-0.00972494" iyz="-0.00111183" izz="-0.000645087"/>
    </inertial>
    <visual>
      <origin xyz="0.23085097168388896 -0.03574304568941889 -0.5299356907276523" rpy="3.0215072327565813 0.22978870437666338 -0.2825182075180713"/>
      <geometry>
        <mesh filename="package://iRonCub-Mk3/iRonCub/meshes/stl/sim_sea_l_arm_p250_prt.stl" scale="0.001 0.001 0.001"/>
      </geometry>
      <material name="dgreen">
        <color rgba="1 1 1 1"/>
      </material>
    </visual>
    <collision>
      <origin xyz="0.23085097168388896 -0.03574304568941889 -0.5299356907276523" rpy="3.0215072327565813 0.22978870437666338 -0.2825182075180713"/>
      <geometry>
        <mesh filename="package://iRonCub-Mk3/iRonCub/meshes/stl/sim_sea_l_arm_p250_prt.stl" scale="0.001 0.001 0.001"/>
      </geometry>
    </collision>
  </link>
  <joint name="l_elbow_turbine" type="fixed">
    <origin xyz="-0.26           0      -0.094" rpy="1.5346e-07     -1.5708           0"/>
    <parent link="l_forearm"/>
    <child link="l_arm_jet_turbine"/>
    <dynamics damping="0.1"/>
  </joint>
  <link name="r_shoulder_1">
    <inertial>
      <origin xyz="0.00016744811157206468 -0.08721740246539643 0.0004507343002208668" rpy="-0.06688725064450136 0.24445256247619251 -1.840815419889917"/>
      <mass value="0.78697"/>
      <inertia ixx="0.0003985239519684459" ixy="-0.0001736132173031554" ixz="-0.0001629290145974639" iyy="0.0010103722401209082" iyz="-4.081377037378354e-05" izz="0.0009923960134670207"/>
    </inertial>
    <visual>
      <origin xyz="0.030411233356184383 0.029140462447480246 0.01909577433393813" rpy="-0.06688725064450136 0.24445256247619251 -1.840815419889917"/>
      <geometry>
        <mesh filename="package://iRonCub-Mk3/iRonCub/meshes/stl/sim_icub3_r_shoulder_1_prt.stl" scale="0.001 0.001 0.001"/>
      </geometry>
      <material name="gray">
        <color rgba="1 1 1 1"/>
      </material>
    </visual>
    <collision>
      <origin xyz="0.030411233356184383 0.029140462447480246 0.01909577433393813" rpy="-0.06688725064450136 0.24445256247619251 -1.840815419889917"/>
      <geometry>
        <mesh filename="package://iRonCub-Mk3/iRonCub/meshes/stl/sim_icub3_r_shoulder_1_prt.stl" scale="0.001 0.001 0.001"/>
      </geometry>
    </collision>
  </link>
  <joint name="r_shoulder_pitch" type="revolute">
    <origin xyz="-0.020835100000000002 -0.0397423 0.1052029" rpy="-0.25326164431680925 2.3014774394592079e-07 0.26179970938509745"/>
    <axis xyz="1.499044390054707e-07 0.9999999783534812 -1.2401537036188515e-07"/>
    <parent link="chest"/>
    <child link="r_shoulder_1"/>
    <limit effort="50000" lower="-3.0543261909900767" upper="0.3490658503988659" velocity="120.0"/>
    <dynamics damping="2.0" friction="0.0"/>
  </joint>
  <link name="r_shoulder_2">
    <inertial>
      <origin xyz="0.005108924921141532 -0.00021262473188488062 -0.020403359362654718" rpy="-0.12008540036084188 0.2297886675301102 -1.8533144378692001"/>
      <mass value="0.42492"/>
      <inertia ixx="0.0003829366314543841" ixy="4.8603409990214605e-05" ixz="6.290223922809094e-05" iyy="0.00031037929080854744" iyz="-7.540635367635347e-05" izz="0.0002587851085269554"/>
    </inertial>
    <visual>
      <origin xyz="0.023893259221697872 0.14064089823597106 0.01743452847998419" rpy="-0.12008540036084188 0.2297886675301102 -1.8533144378692001"/>
      <geometry>
        <mesh filename="package://iRonCub-Mk3/iRonCub/meshes/stl/sim_icub3_r_shoulder_2_prt.stl" scale="0.001 0.001 0.001"/>
      </geometry>
      <material name="green">
        <color rgba="1 1 1 1"/>
      </material>
    </visual>
    <collision>
      <origin xyz="0.023893259221697872 0.14064089823597106 0.01743452847998419" rpy="-0.12008540036084188 0.2297886675301102 -1.8533144378692001"/>
      <geometry>
        <mesh filename="package://iRonCub-Mk3/iRonCub/meshes/stl/sim_icub3_r_shoulder_2_prt.stl" scale="0.001 0.001 0.001"/>
      </geometry>
    </collision>
  </link>
  <joint name="r_shoulder_roll" type="revolute">
    <origin xyz="0.007489008185044645 -0.11150041046657977 0.00040278589669752105" rpy="0.17453306234069352 -0.05374779257913059 -6.132332688882274e-07"/>
    <axis xyz="-0.9999998262417886 4.2105014356162707e-08 2.4630481189336084e-08"/>
    <parent link="r_shoulder_1"/>
    <child link="r_shoulder_2"/>
    <limit effort="50000" lower="0.20943951023931956" upper="2.8448866807507573" velocity="120.0"/>
    <dynamics damping="2.0" friction="0.0"/>
  </joint>
  <link name="r_shoulder_3">
    <inertial>
      <origin xyz="-8.296442829115735e-05 -3.0309267538636275e-05 -0.007966520489017755" rpy="-0.12008540036084188 0.2297886675301102 -1.8533144378692001"/>
      <mass value="0.2625"/>
      <inertia ixx="7.628615554065704e-05" ixy="1.6702215931276847e-06" ixz="-1.0784251066431893e-05" iyy="7.45516013055042e-05" iyz="-5.495630207834499e-06" izz="0.00012000314956569149"/>
    </inertial>
    <visual>
      <origin xyz="0.03074320560708775 0.1406406791860105 0.07173451005787518" rpy="-0.12008540036084188 0.2297886675301102 -1.8533144378692001"/>
      <geometry>
        <mesh filename="package://iRonCub-Mk3/iRonCub/meshes/stl/sim_icub3_r_shoulder_3_prt.stl" scale="0.001 0.001 0.001"/>
      </geometry>
      <material name="black">
        <color rgba="0 1 1 1"/>
      </material>
    </visual>
    <collision>
      <origin xyz="0.03074320560708775 0.1406406791860105 0.07173451005787518" rpy="-0.12008540036084188 0.2297886675301102 -1.8533144378692001"/>
      <geometry>
        <mesh filename="package://iRonCub-Mk3/iRonCub/meshes/stl/sim_icub3_r_shoulder_3_prt.stl" scale="0.001 0.001 0.001"/>
      </geometry>
    </collision>
  </link>
  <joint name="r_arm_ft_sensor" type="fixed">
    <origin xyz="-0.006849946385389875 2.1904996055921444e-07 -0.054299981577890996" rpy="0 0 0"/>
    <parent link="r_shoulder_2"/>
    <child link="r_shoulder_3"/>
    <dynamics damping="0.1"/>
  </joint>
  <link name="r_upper_arm">
    <inertial>
      <origin xyz="0.00104763877624129 -0.002559626059706027 -0.05065314965013519" rpy="-0.12008540036084188 0.2297886675301102 -1.8533144378692001"/>
      <mass value="1.8703"/>
      <inertia ixx="0.0033005254762146084" ixy="-7.856912537486065e-05" ixz="0.0005314736736640653" iyy="0.003275179877659797" iyz="0.00032042055112711576" izz="0.0016353876705876744"/>
    </inertial>
    <visual>
      <origin xyz="0.030743123698670136 0.14064025735327973 0.09423445143102875" rpy="-0.12008540036084188 0.2297886675301102 -1.8533144378692001"/>
      <geometry>
        <mesh filename="package://iRonCub-Mk3/iRonCub/meshes/stl/sim_icub3_r_upperarm_prt.stl" scale="0.001 0.001 0.001"/>
      </geometry>
      <material name="red">
        <color rgba="0 1 1 1"/>
      </material>
    </visual>
    <collision>
      <origin xyz="0.030743123698670136 0.14064025735327973 0.09423445143102875" rpy="-0.12008540036084188 0.2297886675301102 -1.8533144378692001"/>
      <geometry>
        <mesh filename="package://iRonCub-Mk3/iRonCub/meshes/stl/sim_icub3_r_upperarm_prt.stl" scale="0.001 0.001 0.001"/>
      </geometry>
    </collision>
  </link>
  <joint name="r_shoulder_yaw" type="revolute">
    <origin xyz="0 4.2183273077367467e-07 -0.02249994137315358" rpy="0 0 0"/>
    <axis xyz="-3.787621790513063e-08 2.805197706068352e-08 1.0000002566182309"/>
    <parent link="r_shoulder_3"/>
    <child link="r_upper_arm"/>
    <limit effort="50000" lower="-0.8726646259971648" upper="1.3962634015954636" velocity="120.0"/>
    <dynamics damping="2.0" friction="0.0"/>
  </joint>
  <link name="r_elbow_1">
    <inertial>
      <origin xyz="-0.0042210586272278874 -0.00045736337500790203 -0.0010160983262984813" rpy="-0.12008540036084188 0.2297886675301102 -1.8533144378692001"/>
      <mass value="0.107261"/>
      <inertia ixx="1.40525e-05" ixy="-1.76005e-06" ixz="-3.59476e-06" iyy="2.17508e-05" iyz="-8.29645e-07" izz="2.70785e-05"/>
    </inertial>
    <visual>
      <origin xyz="0.02074319177606632 0.13914061722125232 0.21793478892057525" rpy="-0.12008540036084188 0.2297886675301102 -1.8533144378692001"/>
      <geometry>
        <mesh filename="package://iRonCub-Mk3/iRonCub/meshes/stl/sim_icub3_r_elbow_prt.stl" scale="0.001 0.001 0.001"/>
      </geometry>
      <material name="blue">
        <color rgba="0 1 1 1"/>
      </material>
    </visual>
    <collision>
      <origin xyz="0.02074319177606632 0.13914061722125232 0.21793478892057525" rpy="-0.12008540036084188 0.2297886675301102 -1.8533144378692001"/>
      <geometry>
        <mesh filename="package://iRonCub-Mk3/iRonCub/meshes/stl/sim_icub3_r_elbow_prt.stl" scale="0.001 0.001 0.001"/>
      </geometry>
    </collision>
  </link>
  <joint name="r_elbow" type="revolute">
    <origin xyz="0.009999931922603816 0.0014996401320274133 -0.1237003374895465" rpy="0 0 0"/>
    <axis xyz="2.4949582809984105e-07 -1.0000002733514362 2.7942487004772865e-08"/>
    <parent link="r_upper_arm"/>
    <child link="r_elbow_1"/>
    <limit effort="50000" lower="-0.05235987755982989" upper="1.3089969389957472" velocity="120.0"/>
    <dynamics damping="2.0" friction="0.0"/>
  </joint>
  <link name="R_FOREARM"/>
  <joint name="R_FOREARM_fixed_joint" type="fixed">
    <origin xyz="-0.01499999725199383 -0.0019999689733820603 0.0060001905432816305" rpy="1.570796451552234 -1.5707960126779352 0"/>
    <parent link="r_elbow_1"/>
    <child link="R_FOREARM"/>
    <dynamics damping="0.1"/>
  </joint>
  <link name="r_forearm">
    <inertial>
      <origin xyz="-0.13145056911634542 6.584926183615669e-05 0.023664093429151656" rpy="0.7853977427514093 -1.2085781829840494 2.2689286834936673"/>
      <mass value="0.71606"/>
      <inertia ixx="0.00091547" ixy="-0.000250774" ixz="0.000415154" iyy="0.0022271" iyz="0.000153298" izz="0.002323"/>
    </inertial>
    <visual>
      <origin xyz="0 0 0" rpy="2.9671 0 0"/>
      <geometry>
        <mesh filename="[local-path]\Documents\GitHub\element_co-generative-cad\Mode_frontierAnalayses\jetpack_forearm_simulink_controller\jetpack_forearm_control_simulink_controller_00066\proc\00000-00999\00445\Matlab26_00000\cogen_001_p_002.prt_ascii.stl" scale="0.001 0.001 0.001"/>
      </geometry>
      <material name="yellow">
        <color rgba="0 1 1 1"/>
      </material>
    </visual>
    <collision>
      <origin xyz="0.21193456418652473 -0.0357431759934032 -0.14114064083593317" rpy="0.7853977427514093 -1.2085781829840494 2.2689286834936673"/>
      <geometry>
        <mesh filename="package://iRonCub-Mk3/iRonCub/meshes/stl/sim_icub3_r_elbow_prosup_prt.stl" scale="0.001 0.001 0.001"/>
      </geometry>
    </collision>
  </link>
  <joint name="r_prosup_joint" type="fixed">
    <origin xyz="-0.01499999725199383 -0.0019999689733820603 0.0060001905432816305" rpy="1.570796451552234 -1.5707960126779352 0"/>
    <parent link="r_elbow_1"/>
    <child link="r_forearm"/>
    <dynamics damping="0.1"/>
  </joint>
  <link name="r_arm_jet_turbine">
    <inertial>
      <origin xyz="7.185032821210857e-07 3.9258985742862684e-07 -0.15814251758881814" rpy="3.0215072134275287 -0.22978871932764794 0.5443178016082791"/>
      <mass value="2.155"/>
      <inertia ixx="-0.00934757" ixy="0.000261972" ixz="-0.00217099" iyy="-0.00972494" iyz="-0.00111186" izz="-0.000645129"/>
    </inertial>
    <visual>
      <origin xyz="-0.21430267906834452 -0.09434867402057348 -0.5299364637555667" rpy="3.0215072134275287 -0.22978871932764794 0.5443178016082791"/>
      <geometry>
        <mesh filename="package://iRonCub-Mk3/iRonCub/meshes/stl/sim_sea_r_arm_p250_prt.stl" scale="0.001 0.001 0.001"/>
      </geometry>
      <material name="pink">
        <color rgba="1 1 1 1"/>
      </material>
    </visual>
    <collision>
      <origin xyz="-0.21430267906834452 -0.09434867402057348 -0.5299364637555667" rpy="3.0215072134275287 -0.22978871932764794 0.5443178016082791"/>
      <geometry>
        <mesh filename="package://iRonCub-Mk3/iRonCub/meshes/stl/sim_sea_r_arm_p250_prt.stl" scale="0.001 0.001 0.001"/>
      </geometry>
    </collision>
  </link>
  <joint name="r_elbow_turbine" type="fixed">
    <origin xyz="-0.26           0       0.094" rpy="1.5708      -1.309     -1.5708"/>
    <parent link="r_forearm"/>
    <child link="r_arm_jet_turbine"/>
    <dynamics damping="0.1"/>
  </joint>
  <link name="base_link"/>
  <joint name="base_link_fixed_joint" type="fixed">
<origin xyz="0 0 0" rpy="0 -0 0"/>
<axis xyz="0 0 0"/>
<parent link="root_link"/>
<child link="base_link"/>
</joint>
  <gazebo reference="r_arm_ft_sensor">
<preserveFixedJoint>true</preserveFixedJoint>
<!-- For compatibility with SDFormat < 4.4 -->
<disableFixedJointLumping>true</disableFixedJointLumping>
</gazebo>
  <gazebo reference="r_jet_ft_sensor">
<preserveFixedJoint>true</preserveFixedJoint>
<!-- For compatibility with SDFormat < 4.4 -->
<disableFixedJointLumping>true</disableFixedJointLumping>
</gazebo>
  <gazebo reference="l_jet_ft_sensor">
<preserveFixedJoint>true</preserveFixedJoint>
<!-- For compatibility with SDFormat < 4.4 -->
<disableFixedJointLumping>true</disableFixedJointLumping>
</gazebo>
  <gazebo reference="l_arm_ft_sensor">
<preserveFixedJoint>true</preserveFixedJoint>
<!-- For compatibility with SDFormat < 4.4 -->
<disableFixedJointLumping>true</disableFixedJointLumping>
</gazebo>
  <gazebo reference="l_foot_front_ft_sensor">
<preserveFixedJoint>true</preserveFixedJoint>
<!-- For compatibility with SDFormat < 4.4 -->
<disableFixedJointLumping>true</disableFixedJointLumping>
</gazebo>
  <gazebo reference="l_foot_rear_ft_sensor">
<preserveFixedJoint>true</preserveFixedJoint>
<!-- For compatibility with SDFormat < 4.4 -->
<disableFixedJointLumping>true</disableFixedJointLumping>
</gazebo>
  <gazebo reference="l_foot_front">
  <collision> <surface> <bounce>
    <restitution_coefficient>0</restitution_coefficient>
    <threshold>100000</threshold>
  </bounce> </surface> </collision>
  <maxContacts>4</maxContacts>
  <kp>18000000</kp>
  <kd>100</kd>
  <maxVel>100</maxVel>
  <minDepth>0.0001</minDepth>
  <mu1>1</mu1>
  <mu2>1</mu2>
  <fdir1>0 0 0</fdir1>
</gazebo>
  <gazebo reference="l_foot_rear">
  <collision> <surface> <bounce>
    <restitution_coefficient>0</restitution_coefficient>
    <threshold>100000</threshold>
  </bounce> </surface> </collision>
  <maxContacts>4</maxContacts>
  <kp>18000000</kp>
  <kd>100</kd>
  <maxVel>100</maxVel>
  <minDepth>0.0001</minDepth>
  <mu1>1</mu1>
  <mu2>1</mu2>
  <fdir1>0 0 0</fdir1>
</gazebo>
  <gazebo>
  <plugin name="controlboard_left_leg" filename="libgazebo_yarp_controlboard.so">
    <yarpConfigurationFile>model://iRonCub-Mk3/iRonCub/conf/gazebo_icub_left_leg.ini</yarpConfigurationFile>
  </plugin>
</gazebo>
  <gazebo reference="l_leg_ft_sensor">
<preserveFixedJoint>true</preserveFixedJoint>
<!-- For compatibility with SDFormat < 4.4 -->
<disableFixedJointLumping>true</disableFixedJointLumping>
</gazebo>
  <gazebo reference="r_leg_ft_sensor">
<preserveFixedJoint>true</preserveFixedJoint>
<!-- For compatibility with SDFormat < 4.4 -->
<disableFixedJointLumping>true</disableFixedJointLumping>
</gazebo>
  <gazebo reference="r_foot_front_ft_sensor">
<preserveFixedJoint>true</preserveFixedJoint>
<!-- For compatibility with SDFormat < 4.4 -->
<disableFixedJointLumping>true</disableFixedJointLumping>
</gazebo>
  <gazebo reference="r_foot_rear_ft_sensor">
<preserveFixedJoint>true</preserveFixedJoint>
<!-- For compatibility with SDFormat < 4.4 -->
<disableFixedJointLumping>true</disableFixedJointLumping>
</gazebo>
  <gazebo reference="r_foot_front">
  <collision> <surface> <bounce>
    <restitution_coefficient>0</restitution_coefficient>
    <threshold>100000</threshold>
  </bounce> </surface> </collision>
  <maxContacts>4</maxContacts>
  <kp>18000000</kp>
  <kd>100</kd>
  <maxVel>100</maxVel>
  <minDepth>0.0001</minDepth>
  <mu1>1</mu1>
  <mu2>1</mu2>
  <fdir1>0 0 0</fdir1>
</gazebo>
  <gazebo reference="r_foot_rear">
  <collision> <surface> <bounce>
    <restitution_coefficient>0</restitution_coefficient>
    <threshold>100000</threshold>
  </bounce> </surface> </collision>
  <maxContacts>4</maxContacts>
  <kp>18000000</kp>
  <kd>100</kd>
  <maxVel>100</maxVel>
  <minDepth>0.0001</minDepth>
  <mu1>1</mu1>
  <mu2>1</mu2>
  <fdir1>0 0 0</fdir1>
</gazebo>
  <gazebo reference="r_hip_pitch">
    <implicitSpringDamper>1</implicitSpringDamper>
</gazebo>
  <gazebo reference="r_hip_roll">
    <implicitSpringDamper>1</implicitSpringDamper>
</gazebo>
  <gazebo reference="r_hip_yaw">
    <implicitSpringDamper>1</implicitSpringDamper>
</gazebo>
  <gazebo reference="r_knee">
    <implicitSpringDamper>1</implicitSpringDamper>
</gazebo>
  <gazebo reference="r_ankle_pitch">
    <implicitSpringDamper>1</implicitSpringDamper>
</gazebo>
  <gazebo reference="r_ankle_roll">
    <implicitSpringDamper>1</implicitSpringDamper>
</gazebo>
  <gazebo reference="l_hip_pitch">
    <implicitSpringDamper>1</implicitSpringDamper>
</gazebo>
  <gazebo reference="l_hip_roll">
    <implicitSpringDamper>1</implicitSpringDamper>
</gazebo>
  <gazebo reference="l_hip_yaw">
    <implicitSpringDamper>1</implicitSpringDamper>
</gazebo>
  <gazebo reference="l_knee">
    <implicitSpringDamper>1</implicitSpringDamper>
</gazebo>
  <gazebo reference="l_ankle_pitch">
    <implicitSpringDamper>1</implicitSpringDamper>
</gazebo>
  <gazebo reference="l_ankle_roll">
    <implicitSpringDamper>1</implicitSpringDamper>
</gazebo>
  <gazebo reference="torso_pitch">
    <implicitSpringDamper>1</implicitSpringDamper>
</gazebo>
  <gazebo reference="torso_roll">
    <implicitSpringDamper>1</implicitSpringDamper>
</gazebo>
  <gazebo reference="torso_yaw">
    <implicitSpringDamper>1</implicitSpringDamper>
</gazebo>
  <gazebo reference="r_shoulder_pitch">
    <implicitSpringDamper>1</implicitSpringDamper>
</gazebo>
  <gazebo reference="r_shoulder_roll">
    <implicitSpringDamper>1</implicitSpringDamper>
</gazebo>
  <gazebo reference="r_shoulder_yaw">
    <implicitSpringDamper>1</implicitSpringDamper>
</gazebo>
  <gazebo reference="l_shoulder_pitch">
    <implicitSpringDamper>1</implicitSpringDamper>
</gazebo>
  <gazebo reference="l_shoulder_roll">
    <implicitSpringDamper>1</implicitSpringDamper>
</gazebo>
  <gazebo reference="l_shoulder_yaw">
    <implicitSpringDamper>1</implicitSpringDamper>
</gazebo>
  <gazebo reference="l_elbow_turbine">
<disableFixedJointLumping>true</disableFixedJointLumping>
</gazebo>
  <gazebo reference="jetpack">
<disableFixedJointLumping>true</disableFixedJointLumping>
</gazebo>
  <gazebo reference="r_elbow_turbine">
<disableFixedJointLumping>true</disableFixedJointLumping>
</gazebo>
  <gazebo reference="neck_pitch">
<implicitSpringDamper>1</implicitSpringDamper>
</gazebo>
  <gazebo reference="neck_roll">
    <implicitSpringDamper>1</implicitSpringDamper>
</gazebo>
  <gazebo reference="neck_yaw">
    <implicitSpringDamper>1</implicitSpringDamper>
</gazebo>
  <gazebo reference="l_shoulder_pitch">
  <implicitSpringDamper>1</implicitSpringDamper>
</gazebo>
  <gazebo reference="l_shoulder_roll">
  <implicitSpringDamper>1</implicitSpringDamper>
</gazebo>
  <gazebo reference="l_shoulder_yaw">
  <implicitSpringDamper>1</implicitSpringDamper>
</gazebo>
  <gazebo reference="l_elbow">
  <implicitSpringDamper>1</implicitSpringDamper>
</gazebo>
  <gazebo reference="r_shoulder_pitch">
  <implicitSpringDamper>1</implicitSpringDamper>
</gazebo>
  <gazebo reference="r_shoulder_roll">
  <implicitSpringDamper>1</implicitSpringDamper>
</gazebo>
  <gazebo reference="r_shoulder_yaw">
  <implicitSpringDamper>1</implicitSpringDamper>
</gazebo>
  <gazebo reference="r_elbow">
  <implicitSpringDamper>1</implicitSpringDamper>
</gazebo>
  <gazebo>
<plugin name="controlboard_right_arm_no_hand" filename="libgazebo_yarp_controlboard.so">
  <yarpConfigurationFile>model://iRonCub-Mk3/iRonCub/conf/gazebo_icub_right_arm_no_hand_for_no_hand_model.ini</yarpConfigurationFile>
  <initialConfiguration>-0.52 0.52 0 0.785 0 0 0.0</initialConfiguration>
</plugin>
<plugin name="controlboard_left_arm_no_hand" filename="libgazebo_yarp_controlboard.so">
  <yarpConfigurationFile>model://iRonCub-Mk3/iRonCub/conf/gazebo_icub_left_arm_no_hand_for_no_hand_model.ini</yarpConfigurationFile>
  <initialConfiguration>-0.52 0.52 0 0.785 0 0 0.0</initialConfiguration>
</plugin>
<plugin name="controlboard_right_leg" filename="libgazebo_yarp_controlboard.so">
  <yarpConfigurationFile>model://iRonCub-Mk3/iRonCub/conf/gazebo_icub_right_leg.ini</yarpConfigurationFile>
</plugin>
<plugin name="controlboard_torso" filename="libgazebo_yarp_controlboard.so">
  <yarpConfigurationFile>model://iRonCub-Mk3/iRonCub/conf/gazebo_icub_torso.ini</yarpConfigurationFile>
</plugin>
<plugin name="controlboard_head_without_eyes" filename="libgazebo_yarp_controlboard.so">
  <yarpConfigurationFile>model://iRonCub-Mk3/iRonCub/conf/gazebo_icub_head_without_eyes_V2_7.ini</yarpConfigurationFile>
</plugin>
<plugin name="jets-plugin" filename="libjets-plugin.so">
  <yarpConfigurationFile>model://iRonCub-Mk3/iRonCub/conf/jets.ini</yarpConfigurationFile>
</plugin>
<plugin name="basestate" filename="libgazebo_yarp_basestate.so">
    <yarpConfigurationFile>model://iRonCub-Mk3/iRonCub/conf/base.ini</yarpConfigurationFile>
</plugin>
<plugin name="robotinterface" filename="libgazebo_yarp_robotinterface.so">
  <yarpRobotInterfaceConfigurationFile>model://iRonCub-Mk3/iRonCub/conf/iRonCub.xml</yarpRobotInterfaceConfigurationFile>
</plugin>
</gazebo>
  <gazebo reference="l_foot_rear">
    <visual>
      <material>
        <ambient>0.55 0.55 0.55 1.0</ambient>
        <diffuse>1.0 1.0 1.0 1.0</diffuse>
        <specular>0.6 0.6 0.6 1.0</specular>
      </material>
    </visual>
  </gazebo>
  <gazebo reference="l_foot_front">
    <visual>
      <material>
        <ambient>0.55 0.55 0.55 1.0</ambient>
        <diffuse>1.0 1.0 1.0 1.0</diffuse>
        <specular>0.6 0.6 0.6 1.0</specular>
      </material>
    </visual>
  </gazebo>
  <gazebo reference="r_foot_front">
    <visual>
      <material>
        <ambient>0.55 0.55 0.55 1.0</ambient>
        <diffuse>1.0 1.0 1.0 1.0</diffuse>
        <specular>0.6 0.6 0.6 1.0</specular>
      </material>
    </visual>
  </gazebo>
  <gazebo reference="r_foot_rear">
    <visual>
      <material>
        <ambient>0.55 0.55 0.55 1.0</ambient>
        <diffuse>1.0 1.0 1.0 1.0</diffuse>
        <specular>0.6 0.6 0.6 1.0</specular>
      </material>
    </visual>
  </gazebo>
  <gazebo reference="chest">
    <visual>
      <material>
        <ambient>0.18823499999999999 0.18823499999999999 0.18823499999999999 1.0</ambient>
        <diffuse>0.2823525 0.2823525 0.2823525 1.0</diffuse>
        <specular>0.18823499999999999 0.18823499999999999 0.18823499999999999 1.0</specular>
      </material>
    </visual>
  </gazebo>
  <gazebo reference="l_arm_ft_sensor">
    <sensor name="l_arm_ft" type="force_torque">
      <always_on>1</always_on>
      <update_rate>100</update_rate>
      <force_torque>
        <frame>child</frame>
        <measure_direction>child_to_parent</measure_direction>
      </force_torque>
      <plugin name="left_arm_ft_plugin" filename="libgazebo_yarp_forcetorque.so">
  <yarpConfigurationFile>model://iRonCub-Mk3/iRonCub/conf/FT/gazebo_icub_left_arm_ft.ini</yarpConfigurationFile>
</plugin>
    </sensor>
  </gazebo>
  <sensor name="l_arm_ft" type="force_torque">
    <parent joint="l_arm_ft_sensor"/>
    <force_torque>
      <frame>child</frame>
      <measure_direction>child_to_parent</measure_direction>
    </force_torque>
  </sensor>
  <gazebo reference="r_arm_ft_sensor">
    <sensor name="r_arm_ft" type="force_torque">
      <always_on>1</always_on>
      <update_rate>100</update_rate>
      <force_torque>
        <frame>child</frame>
        <measure_direction>child_to_parent</measure_direction>
      </force_torque>
      <plugin name="right_arm_ft_plugin" filename="libgazebo_yarp_forcetorque.so">
  <yarpConfigurationFile>model://iRonCub-Mk3/iRonCub/conf/FT/gazebo_icub_right_arm_ft.ini</yarpConfigurationFile>
</plugin>
    </sensor>
  </gazebo>
  <sensor name="r_arm_ft" type="force_torque">
    <parent joint="r_arm_ft_sensor"/>
    <force_torque>
      <frame>child</frame>
      <measure_direction>child_to_parent</measure_direction>
    </force_torque>
  </sensor>
  <gazebo reference="l_foot_front_ft_sensor">
    <sensor name="l_foot_front_ft" type="force_torque">
      <always_on>1</always_on>
      <update_rate>100</update_rate>
      <force_torque>
        <frame>child</frame>
        <measure_direction>child_to_parent</measure_direction>
      </force_torque>
      <plugin name="left_foot_front_ft_plugin" filename="libgazebo_yarp_forcetorque.so">
  <yarpConfigurationFile>model://iRonCub-Mk3/iRonCub/conf/FT/gazebo_icub_left_foot_front_ft.ini</yarpConfigurationFile>
</plugin>
    </sensor>
  </gazebo>
  <sensor name="l_foot_front_ft" type="force_torque">
    <parent joint="l_foot_front_ft_sensor"/>
    <force_torque>
      <frame>child</frame>
      <measure_direction>child_to_parent</measure_direction>
    </force_torque>
  </sensor>
  <gazebo reference="l_foot_rear_ft_sensor">
    <sensor name="l_foot_rear_ft" type="force_torque">
      <always_on>1</always_on>
      <update_rate>100</update_rate>
      <force_torque>
        <frame>child</frame>
        <measure_direction>child_to_parent</measure_direction>
      </force_torque>
      <plugin name="left_foot_rear_ft_plugin" filename="libgazebo_yarp_forcetorque.so">
  <yarpConfigurationFile>model://iRonCub-Mk3/iRonCub/conf/FT/gazebo_icub_left_foot_rear_ft.ini</yarpConfigurationFile>
</plugin>
    </sensor>
  </gazebo>
  <sensor name="l_foot_rear_ft" type="force_torque">
    <parent joint="l_foot_rear_ft_sensor"/>
    <force_torque>
      <frame>child</frame>
      <measure_direction>child_to_parent</measure_direction>
    </force_torque>
  </sensor>
  <gazebo reference="r_foot_front_ft_sensor">
    <sensor name="r_foot_front_ft" type="force_torque">
      <always_on>1</always_on>
      <update_rate>100</update_rate>
      <force_torque>
        <frame>child</frame>
        <measure_direction>child_to_parent</measure_direction>
      </force_torque>
      <plugin name="right_foot_front_ft_sensor_plugin" filename="libgazebo_yarp_forcetorque.so">
  <yarpConfigurationFile>model://iRonCub-Mk3/iRonCub/conf/FT/gazebo_icub_right_foot_front_ft.ini</yarpConfigurationFile>
</plugin>
    </sensor>
  </gazebo>
  <sensor name="r_foot_front_ft" type="force_torque">
    <parent joint="r_foot_front_ft_sensor"/>
    <force_torque>
      <frame>child</frame>
      <measure_direction>child_to_parent</measure_direction>
    </force_torque>
  </sensor>
  <gazebo reference="r_foot_rear_ft_sensor">
    <sensor name="r_foot_rear_ft" type="force_torque">
      <always_on>1</always_on>
      <update_rate>100</update_rate>
      <force_torque>
        <frame>child</frame>
        <measure_direction>child_to_parent</measure_direction>
      </force_torque>
      <plugin name="right_foot_rear_ft_sensor_plugin" filename="libgazebo_yarp_forcetorque.so">
  <yarpConfigurationFile>model://iRonCub-Mk3/iRonCub/conf/FT/gazebo_icub_right_foot_rear_ft.ini</yarpConfigurationFile>
</plugin>
    </sensor>
  </gazebo>
  <sensor name="r_foot_rear_ft" type="force_torque">
    <parent joint="r_foot_rear_ft_sensor"/>
    <force_torque>
      <frame>child</frame>
      <measure_direction>child_to_parent</measure_direction>
    </force_torque>
  </sensor>
  <gazebo reference="head">
    <sensor name="head_imu" type="imu">
      <always_on>1</always_on>
      <update_rate>100</update_rate>
      <pose>0.0035000000000000005 0.0055 0.10133400000000001 3.141592653589793 -0.0 -1.5707963267948966</pose>
      <plugin name="iCub_yarp_gazebo_plugin_IMU" filename="libgazebo_yarp_imu.so">
    <yarpConfigurationFile>model://iRonCub-Mk3/iRonCub/conf/gazebo_icub_inertial.ini</yarpConfigurationFile>
</plugin>
    </sensor>
  </gazebo>
  <sensor name="head_imu" type="accelerometer">
    <parent link="head"/>
    <origin rpy="3.141592653589793 -0.0 -1.5707963267948966" xyz="0.0035000000000000005 0.0055 0.10133400000000001"/>
  </sensor>
  <gazebo reference="chest">
    <sensor name="chest_imu" type="imu">
      <always_on>1</always_on>
      <update_rate>100</update_rate>
      <pose>0.100121 0.0076 0.0816279 -3.141592653589793 -1.5707963267948966 0.0</pose>
      <plugin name="chest_plugin_IMU" filename="libgazebo_yarp_imu.so">
    <yarpConfigurationFile>model://iRonCub-Mk3/iRonCub/conf/gazebo_icub_xsens_inertial.ini</yarpConfigurationFile>
</plugin>
    </sensor>
  </gazebo>
  <sensor name="chest_imu" type="accelerometer">
    <parent link="chest"/>
    <origin rpy="-3.141592653589793 -1.5707963267948966 0.0" xyz="0.100121 0.0076 0.0816279"/>
  </sensor>
  <gazebo>
    <pose>0.0 0.0 0.64 0.0 0.0 0.0</pose>
  </gazebo>
</robot>
